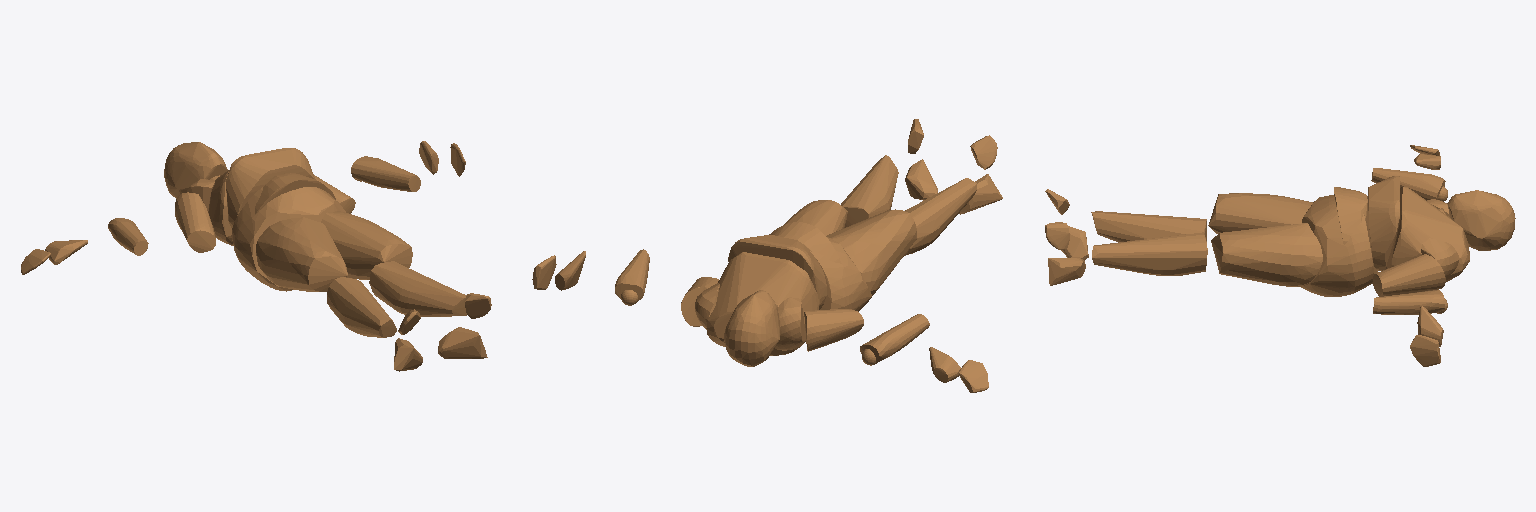
--- Facts derived from the render (not from the file) ---
Views: 3 orthographic renders of the robot side by side, from view 1: azimuth 30°, elevation 25°; view 2: azimuth 150°, elevation 25°; view 3: azimuth 270°, elevation 25°.
Robot: human — 95 links, 94 joints (69 revolute, 25 fixed); root link base; default pose: all joints at 0.
Visible links, largest first — view 1: right_hip_rx, pelvis_dammy, left_hip_rx, left_knee_limb, spine_3_limb, right_knee_limb, head_limb, right_shoulder_limb, left_elbow_limb, left_ankle_limb, spine_2_limb, spine_4_limb (+4 smaller); view 2: spine_4_limb, right_hip_rx, head_limb, right_knee_limb, left_knee_limb, pelvis_dammy, spine_3_limb, right_shoulder_limb, right_elbow_limb, left_hip_rx, right_clavicle_rx, spine_2_limb (+10 smaller); view 3: left_hip_rx, pelvis_dammy, left_knee_limb, spine_4_limb, right_hip_rx, head_limb, right_knee_limb, spine_3_limb, left_shoulder_limb, left_elbow_limb, spine_2_limb, right_elbow_limb (+6 smaller).
Boxes of the visible links, <box> form: right_hip_rx: <box>256,217,347,291</box>; pelvis_dammy: <box>231,187,345,291</box>; left_hip_rx: <box>321,211,412,279</box>; left_knee_limb: <box>369,261,466,316</box>; spine_3_limb: <box>226,148,315,227</box>; right_knee_limb: <box>327,277,396,337</box>; head_limb: <box>164,142,227,198</box>; right_shoulder_limb: <box>175,192,215,252</box>; left_elbow_limb: <box>351,156,420,191</box>; left_ankle_limb: <box>438,327,487,358</box>; spine_2_limb: <box>255,173,335,214</box>; spine_4_limb: <box>208,170,232,245</box>; spine_4_limb: <box>706,252,818,355</box>; right_hip_rx: <box>826,209,916,295</box>; head_limb: <box>724,290,779,366</box>; right_knee_limb: <box>904,178,976,255</box>; left_knee_limb: <box>841,155,898,227</box>; pelvis_dammy: <box>810,237,871,311</box>; spine_3_limb: <box>728,235,826,309</box>; right_shoulder_limb: <box>804,309,863,351</box>; right_elbow_limb: <box>860,314,929,363</box>; left_hip_rx: <box>784,200,847,235</box>; right_clavicle_rx: <box>775,297,805,350</box>; spine_2_limb: <box>769,222,841,263</box>; left_hip_rx: <box>1211,223,1322,286</box>; pelvis_dammy: <box>1301,195,1376,296</box>; left_knee_limb: <box>1092,232,1207,275</box>; spine_4_limb: <box>1391,187,1469,281</box>; right_hip_rx: <box>1208,193,1312,233</box>; head_limb: <box>1447,190,1515,250</box>; right_knee_limb: <box>1091,211,1206,242</box>; spine_3_limb: <box>1368,176,1399,270</box>; left_shoulder_limb: <box>1373,254,1445,296</box>; left_elbow_limb: <box>1373,290,1444,314</box>; spine_2_limb: <box>1334,187,1377,272</box>; right_elbow_limb: <box>1371,168,1445,200</box>.
Bounding box of the posed robot: 1.68 × 1.62 × 0.3818 m (x, y, z).
Meshes: 24 distinct files referenced, 24 mesh visuals loaded (24 OBJ).

URDF robot description (human):
<?xml version="1.0" ?>
<robot name="human">
	<link name="base">
		<inertial>
			<origin rpy="0.00000 -0.00000 0.00000" xyz="0.00000 0.00000 0.00000"/>
			<mass value="0.00010"/>
			<inertia ixx="0.00000" ixy="0" ixz="0" iyy="0.00000" iyz="0" izz="0.00000"/>
		</inertial>
	</link>
	<link name="pelvis">
		<inertial>
			<origin rpy="0.00000 -0.00000 0.00000" xyz="0.00000 0.00000 0.00000"/>
			<mass value="15.00000"/>
			<inertia ixx="0.00000" ixy="0" ixz="0" iyy="0.00000" iyz="0" izz="0.00000"/>
		</inertial>
		<visual>
			<origin rpy="0.00000 -0.00000 0.00000" xyz="0.00000 0.00000 0.00000"/>
			<geometry>
				<sphere radius="0.00000"/>
			</geometry>
			<material name="mat_0_0">
				<color rgba="0.71879 0.53909 0.35939 1.00000" />
			</material>
		</visual>
		<collision>
			<origin rpy="0.00000 -0.00000 0.00000" xyz="0.00000 0.00000 0.00000"/>
			<geometry>
				<sphere radius="0.00000"/>
			</geometry>
		</collision>
	</link>
	<link name="pelvis_dammy">
		<inertial>
			<origin rpy="0.00000 -0.00000 0.00000" xyz="0.00000 0.00000 0.00000"/>
			<mass value="0.00001"/>
			<inertia ixx="0.00000" ixy="0" ixz="0" iyy="0.00000" iyz="0" izz="0.00000"/>
		</inertial>
		<visual>
			<origin rpy="0.00000 -0.00000 0.00000" xyz="0.00000 0.00000 0.00000"/>
			<geometry>
				<mesh filename="./assistive_gym/envs/assets/human/meshes/Pelvis.obj" scale="1.00000 1.00000 1.00000"/>
			</geometry>
			<material name="mat_1_0">
				<color rgba="0.71879 0.53909 0.35939 1.00000" />
			</material>
		</visual>
		<collision>
			<origin rpy="0.00000 -0.00000 0.00000" xyz="0.00000 0.00000 0.00000"/>
			<geometry>
				<mesh filename="./assistive_gym/envs/assets/human/meshes/Pelvis.obj" scale="1.00000 1.00000 1.00000"/>
			</geometry>
		</collision>
	</link>
	<link name="left_hip_rx">
		<inertial>
			<origin rpy="0.00000 -0.00000 0.00000" xyz="0.00000 0.00000 0.00000"/>
			<mass value="0.00000"/>
			<inertia ixx="0.00000" ixy="0" ixz="0" iyy="0.00000" iyz="0" izz="0.00000"/>
		</inertial>
		<visual>
			<origin rpy="0.00000 -0.00000 0.00000" xyz="0.00000 0.00000 0.00000"/>
			<geometry>
				<mesh filename="./assistive_gym/envs/assets/human/meshes/L_Hip.obj" scale="1.00000 1.00000 1.00000"/>
			</geometry>
			<material name="mat_2_0">
				<color rgba="0.71879 0.53909 0.35939 1.00000" />
			</material>
		</visual>
		<collision>
			<origin rpy="0.00000 -0.00000 0.00000" xyz="0.00000 0.00000 0.00000"/>
			<geometry>
				<mesh filename="./assistive_gym/envs/assets/human/meshes/L_Hip.obj" scale="1.00000 1.00000 1.00000"/>
			</geometry>
		</collision>
	</link>
	<link name="left_hip_ry">
		<inertial>
			<origin rpy="0.00000 -0.00000 0.00000" xyz="0.00000 0.00000 0.00000"/>
			<mass value="0.00000"/>
			<inertia ixx="0.00000" ixy="0" ixz="0" iyy="0.00000" iyz="0" izz="0.00000"/>
		</inertial>
		<visual>
			<origin rpy="0.00000 -0.00000 0.00000" xyz="0.00000 0.00000 0.00000"/>
			<geometry>
				<sphere radius="0.00000"/>
			</geometry>
			<material name="mat_3_0">
				<color rgba="0.71879 0.53909 0.35939 1.00000" />
			</material>
		</visual>
		<collision>
			<origin rpy="0.00000 -0.00000 0.00000" xyz="0.00000 0.00000 0.00000"/>
			<geometry>
				<sphere radius="0.00000"/>
			</geometry>
		</collision>
	</link>
	<link name="left_hip_rz">
		<inertial>
			<origin rpy="0.00000 -0.00000 0.00000" xyz="0.00000 0.00000 0.00000"/>
			<mass value="0.00000"/>
			<inertia ixx="0.00000" ixy="0" ixz="0" iyy="0.00000" iyz="0" izz="0.00000"/>
		</inertial>
		<visual>
			<origin rpy="0.00000 -0.00000 0.00000" xyz="0.00000 0.00000 0.00000"/>
			<geometry>
				<sphere radius="0.00000"/>
			</geometry>
			<material name="mat_4_0">
				<color rgba="0.71879 0.53909 0.35939 1.00000" />
			</material>
		</visual>
		<collision>
			<origin rpy="0.00000 -0.00000 0.00000" xyz="0.00000 0.00000 0.00000"/>
			<geometry>
				<sphere radius="0.00000"/>
			</geometry>
		</collision>
	</link>
	<link name="left_knee_limb">
		<inertial>
			<origin rpy="0.00000 -0.00000 0.00000" xyz="0.00000 0.00000 0.00000"/>
			<mass value="2.00000"/>
			<inertia ixx="0.03527" ixy="0" ixz="0" iyy="0.00811" iyz="0" izz="0.03362"/>
		</inertial>
		<visual>
			<origin rpy="0.00000 -0.00000 0.00000" xyz="0.00000 0.00000 0.00000"/>
			<geometry>
				<mesh filename="./assistive_gym/envs/assets/human/meshes/L_Knee.obj" scale="1.00000 1.00000 1.00000"/>
			</geometry>
			<material name="mat_5_0">
				<color rgba="0.71879 0.53909 0.35939 1.00000" />
			</material>
		</visual>
		<collision>
			<origin rpy="0.00000 -0.00000 0.00000" xyz="0.00000 0.00000 0.00000"/>
			<geometry>
				<mesh filename="./assistive_gym/envs/assets/human/meshes/L_Knee.obj" scale="1.00000 1.00000 1.00000"/>
			</geometry>
		</collision>
	</link>
	<link name="left_knee_rx">
		<inertial>
			<origin rpy="0.00000 -0.00000 0.00000" xyz="0.00000 0.00000 0.00000"/>
			<mass value="0.00001"/>
			<inertia ixx="0.00000" ixy="0" ixz="0" iyy="0.00000" iyz="0" izz="0.00000"/>
		</inertial>
		<visual>
			<origin rpy="0.00000 -0.00000 0.00000" xyz="0.00000 0.00000 0.00000"/>
			<geometry>
				<sphere radius="0.00000"/>
			</geometry>
			<material name="mat_6_0">
				<color rgba="0.71879 0.53909 0.35939 1.00000" />
			</material>
		</visual>
		<collision>
			<origin rpy="0.00000 -0.00000 0.00000" xyz="0.00000 0.00000 0.00000"/>
			<geometry>
				<sphere radius="0.00000"/>
			</geometry>
		</collision>
	</link>
	<link name="left_knee_ry">
		<inertial>
			<origin rpy="0.00000 -0.00000 0.00000" xyz="0.00000 0.00000 0.00000"/>
			<mass value="0.00001"/>
			<inertia ixx="0.00000" ixy="0" ixz="0" iyy="0.00000" iyz="0" izz="0.00000"/>
		</inertial>
		<visual>
			<origin rpy="0.00000 -0.00000 0.00000" xyz="0.00000 0.00000 0.00000"/>
			<geometry>
				<sphere radius="0.00000"/>
			</geometry>
			<material name="mat_7_0">
				<color rgba="0.71879 0.53909 0.35939 1.00000" />
			</material>
		</visual>
		<collision>
			<origin rpy="0.00000 -0.00000 0.00000" xyz="0.00000 0.00000 0.00000"/>
			<geometry>
				<sphere radius="0.00000"/>
			</geometry>
		</collision>
	</link>
	<link name="left_knee_rz">
		<inertial>
			<origin rpy="0.00000 -0.00000 0.00000" xyz="0.00000 0.00000 0.00000"/>
			<mass value="0.00001"/>
			<inertia ixx="0.00000" ixy="0" ixz="0" iyy="0.00000" iyz="0" izz="0.00000"/>
		</inertial>
		<visual>
			<origin rpy="0.00000 -0.00000 0.00000" xyz="0.00000 0.00000 0.00000"/>
			<geometry>
				<sphere radius="0.00001"/>
			</geometry>
			<material name="mat_8_0">
				<color rgba="0.71879 0.53909 0.35939 1.00000" />
			</material>
		</visual>
		<collision>
			<origin rpy="0.00000 -0.00000 0.00000" xyz="0.00000 0.00000 0.00000"/>
			<geometry>
				<sphere radius="0.00001"/>
			</geometry>
		</collision>
	</link>
	<link name="left_ankle_limb">
		<inertial>
			<origin rpy="0.00000 -0.00000 0.00000" xyz="0.00000 0.00000 0.00000"/>
			<mass value="2.00000"/>
			<inertia ixx="0.00755" ixy="0" ixz="0" iyy="0.00783" iyz="0" izz="0.00391"/>
		</inertial>
		<visual>
			<origin rpy="0.00000 -0.00000 0.00000" xyz="0.00000 0.00000 0.00000"/>
			<geometry>
				<mesh filename="./assistive_gym/envs/assets/human/meshes/L_Ankle.obj" scale="1.00000 1.00000 1.00000"/>
			</geometry>
			<material name="mat_9_0">
				<color rgba="0.71879 0.53909 0.35939 1.00000" />
			</material>
		</visual>
		<collision>
			<origin rpy="0.00000 -0.00000 0.00000" xyz="0.00000 0.00000 0.00000"/>
			<geometry>
				<mesh filename="./assistive_gym/envs/assets/human/meshes/L_Ankle.obj" scale="1.00000 1.00000 1.00000"/>
			</geometry>
		</collision>
	</link>
	<link name="left_ankle_rx">
		<inertial>
			<origin rpy="0.00000 -0.00000 0.00000" xyz="0.00000 0.00000 0.00000"/>
			<mass value="0.00001"/>
			<inertia ixx="0.00000" ixy="0" ixz="0" iyy="0.00000" iyz="0" izz="0.00000"/>
		</inertial>
		<visual>
			<origin rpy="0.00000 -0.00000 0.00000" xyz="0.00000 0.00000 0.00000"/>
			<geometry>
				<sphere radius="0.00000"/>
			</geometry>
			<material name="mat_10_0">
				<color rgba="0.71879 0.53909 0.35939 1.00000" />
			</material>
		</visual>
		<collision>
			<origin rpy="0.00000 -0.00000 0.00000" xyz="0.00000 0.00000 0.00000"/>
			<geometry>
				<sphere radius="0.00000"/>
			</geometry>
		</collision>
	</link>
	<link name="left_ankle_ry">
		<inertial>
			<origin rpy="0.00000 -0.00000 0.00000" xyz="0.00000 0.00000 0.00000"/>
			<mass value="0.00001"/>
			<inertia ixx="0.00000" ixy="0" ixz="0" iyy="0.00000" iyz="0" izz="0.00000"/>
		</inertial>
		<visual>
			<origin rpy="0.00000 -0.00000 0.00000" xyz="0.00000 0.00000 0.00000"/>
			<geometry>
				<sphere radius="0.00000"/>
			</geometry>
			<material name="mat_11_0">
				<color rgba="0.71879 0.53909 0.35939 1.00000" />
			</material>
		</visual>
		<collision>
			<origin rpy="0.00000 -0.00000 0.00000" xyz="0.00000 0.00000 0.00000"/>
			<geometry>
				<sphere radius="0.00000"/>
			</geometry>
		</collision>
	</link>
	<link name="left_ankle_rz">
		<inertial>
			<origin rpy="0.00000 -0.00000 0.00000" xyz="0.00000 0.00000 0.00000"/>
			<mass value="0.00001"/>
			<inertia ixx="0.00000" ixy="0" ixz="0" iyy="0.00000" iyz="0" izz="0.00000"/>
		</inertial>
		<visual>
			<origin rpy="0.00000 -0.00000 0.00000" xyz="0.00000 0.00000 0.00000"/>
			<geometry>
				<sphere radius="0.00001"/>
			</geometry>
			<material name="mat_12_0">
				<color rgba="0.71879 0.53909 0.35939 1.00000" />
			</material>
		</visual>
		<collision>
			<origin rpy="0.00000 -0.00000 0.00000" xyz="0.00000 0.00000 0.00000"/>
			<geometry>
				<sphere radius="0.00001"/>
			</geometry>
		</collision>
	</link>
	<link name="left_foot_limb">
		<inertial>
			<origin rpy="0.00000 -0.00000 0.00000" xyz="0.00000 0.00000 0.00000"/>
			<mass value="1.00000"/>
			<inertia ixx="0.00123" ixy="0" ixz="0" iyy="0.00201" iyz="0" izz="0.00119"/>
		</inertial>
		<visual>
			<origin rpy="0.00000 -0.00000 0.00000" xyz="0.00000 0.00000 0.00000"/>
			<geometry>
				<mesh filename="./assistive_gym/envs/assets/human/meshes/L_Foot.obj" scale="1.00000 1.00000 1.00000"/>
			</geometry>
			<material name="mat_13_0">
				<color rgba="0.71879 0.53909 0.35939 1.00000" />
			</material>
		</visual>
		<collision>
			<origin rpy="0.00000 -0.00000 0.00000" xyz="0.00000 0.00000 0.00000"/>
			<geometry>
				<mesh filename="./assistive_gym/envs/assets/human/meshes/L_Foot.obj" scale="1.00000 1.00000 1.00000"/>
			</geometry>
		</collision>
	</link>
	<link name="left_foot_rx">
		<inertial>
			<origin rpy="0.00000 -0.00000 0.00000" xyz="0.00000 0.00000 0.00000"/>
			<mass value="0.00001"/>
			<inertia ixx="0.00000" ixy="0" ixz="0" iyy="0.00000" iyz="0" izz="0.00000"/>
		</inertial>
		<visual>
			<origin rpy="0.00000 -0.00000 0.00000" xyz="0.00000 0.00000 0.00000"/>
			<geometry>
				<sphere radius="0.00000"/>
			</geometry>
			<material name="mat_14_0">
				<color rgba="0.71879 0.53909 0.35939 1.00000" />
			</material>
		</visual>
		<collision>
			<origin rpy="0.00000 -0.00000 0.00000" xyz="0.00000 0.00000 0.00000"/>
			<geometry>
				<sphere radius="0.00000"/>
			</geometry>
		</collision>
	</link>
	<link name="left_foot_ry">
		<inertial>
			<origin rpy="0.00000 -0.00000 0.00000" xyz="0.00000 0.00000 0.00000"/>
			<mass value="0.00001"/>
			<inertia ixx="0.00000" ixy="0" ixz="0" iyy="0.00000" iyz="0" izz="0.00000"/>
		</inertial>
		<visual>
			<origin rpy="0.00000 -0.00000 0.00000" xyz="0.00000 0.00000 0.00000"/>
			<geometry>
				<sphere radius="0.00000"/>
			</geometry>
			<material name="mat_15_0">
				<color rgba="0.71879 0.53909 0.35939 1.00000" />
			</material>
		</visual>
		<collision>
			<origin rpy="0.00000 -0.00000 0.00000" xyz="0.00000 0.00000 0.00000"/>
			<geometry>
				<sphere radius="0.00000"/>
			</geometry>
		</collision>
	</link>
	<link name="left_foot_rz">
		<inertial>
			<origin rpy="0.00000 -0.00000 0.00000" xyz="0.00000 0.00000 0.00000"/>
			<mass value="0.00001"/>
			<inertia ixx="0.00000" ixy="0" ixz="0" iyy="0.00000" iyz="0" izz="0.00000"/>
		</inertial>
		<visual>
			<origin rpy="0.00000 -0.00000 0.00000" xyz="0.00000 0.00000 0.00000"/>
			<geometry>
				<sphere radius="0.00001"/>
			</geometry>
			<material name="mat_16_0">
				<color rgba="0.71879 0.53909 0.35939 1.00000" />
			</material>
		</visual>
		<collision>
			<origin rpy="0.00000 -0.00000 0.00000" xyz="0.00000 0.00000 0.00000"/>
			<geometry>
				<sphere radius="0.00001"/>
			</geometry>
		</collision>
	</link>
	<link name="left_toe">
		<inertial>
			<origin rpy="0.00000 -0.00000 0.00000" xyz="0.00000 0.00000 0.00000"/>
			<mass value="0.00001"/>
			<inertia ixx="0.00000" ixy="0" ixz="0" iyy="0.00000" iyz="0" izz="0.00000"/>
		</inertial>
		<collision>
			<origin rpy="0.00000 -0.00000 0.00000" xyz="0.00000 0.00000 0.00000"/>
			<geometry>
				<capsule length="0.04800" radius="0.00500"/>
			</geometry>
		</collision>
	</link>
	<link name="left_heel">
		<inertial>
			<origin rpy="0.00000 -0.00000 0.00000" xyz="0.00000 0.00000 0.00000"/>
			<mass value="0.00001"/>
			<inertia ixx="0.00000" ixy="0" ixz="0" iyy="0.00000" iyz="0" izz="0.00000"/>
		</inertial>
		<collision>
			<origin rpy="0.00000 -0.00000 0.00000" xyz="0.00000 0.00000 0.00000"/>
			<geometry>
				<capsule length="0.04800" radius="0.00500"/>
			</geometry>
		</collision>
	</link>
	<link name="right_hip_rx">
		<inertial>
			<origin rpy="0.00000 -0.00000 0.00000" xyz="0.00000 0.00000 0.00000"/>
			<mass value="0.00001"/>
			<inertia ixx="0.00000" ixy="0" ixz="0" iyy="0.00000" iyz="0" izz="0.00000"/>
		</inertial>
		<visual>
			<origin rpy="0.00000 -0.00000 0.00000" xyz="0.00000 0.00000 0.00000"/>
			<geometry>
				<mesh filename="./assistive_gym/envs/assets/human/meshes/R_Hip.obj" scale="1.00000 1.00000 1.00000"/>
			</geometry>
			<material name="mat_19_0">
				<color rgba="0.71879 0.53909 0.35939 1.00000" />
			</material>
		</visual>
		<collision>
			<origin rpy="0.00000 -0.00000 0.00000" xyz="0.00000 0.00000 0.00000"/>
			<geometry>
				<mesh filename="./assistive_gym/envs/assets/human/meshes/R_Hip.obj" scale="1.00000 1.00000 1.00000"/>
			</geometry>
		</collision>
	</link>
	<link name="right_hip_ry">
		<inertial>
			<origin rpy="0.00000 -0.00000 0.00000" xyz="0.00000 0.00000 0.00000"/>
			<mass value="0.00001"/>
			<inertia ixx="0.00000" ixy="0" ixz="0" iyy="0.00000" iyz="0" izz="0.00000"/>
		</inertial>
		<visual>
			<origin rpy="0.00000 -0.00000 0.00000" xyz="0.00000 0.00000 0.00000"/>
			<geometry>
				<sphere radius="0.00000"/>
			</geometry>
			<material name="mat_20_0">
				<color rgba="0.71879 0.53909 0.35939 1.00000" />
			</material>
		</visual>
		<collision>
			<origin rpy="0.00000 -0.00000 0.00000" xyz="0.00000 0.00000 0.00000"/>
			<geometry>
				<sphere radius="0.00000"/>
			</geometry>
		</collision>
	</link>
	<link name="right_hip_rz">
		<inertial>
			<origin rpy="0.00000 -0.00000 0.00000" xyz="0.00000 0.00000 0.00000"/>
			<mass value="0.00001"/>
			<inertia ixx="0.00000" ixy="0" ixz="0" iyy="0.00000" iyz="0" izz="0.00000"/>
		</inertial>
		<visual>
			<origin rpy="0.00000 -0.00000 0.00000" xyz="0.00000 0.00000 0.00000"/>
			<geometry>
				<sphere radius="0.00000"/>
			</geometry>
			<material name="mat_21_0">
				<color rgba="0.71879 0.53909 0.35939 1.00000" />
			</material>
		</visual>
		<collision>
			<origin rpy="0.00000 -0.00000 0.00000" xyz="0.00000 0.00000 0.00000"/>
			<geometry>
				<sphere radius="0.00000"/>
			</geometry>
		</collision>
	</link>
	<link name="right_knee_limb">
		<inertial>
			<origin rpy="0.00000 -0.00000 0.00000" xyz="0.00000 0.00000 0.00000"/>
			<mass value="2.00000"/>
			<inertia ixx="0.03507" ixy="0" ixz="0" iyy="0.00796" iyz="0" izz="0.03368"/>
		</inertial>
		<visual>
			<origin rpy="0.00000 -0.00000 0.00000" xyz="0.00000 0.00000 0.00000"/>
			<geometry>
				<mesh filename="./assistive_gym/envs/assets/human/meshes/R_Knee.obj" scale="1.00000 1.00000 1.00000"/>
			</geometry>
			<material name="mat_22_0">
				<color rgba="0.71879 0.53909 0.35939 1.00000" />
			</material>
		</visual>
		<collision>
			<origin rpy="0.00000 -0.00000 0.00000" xyz="0.00000 0.00000 0.00000"/>
			<geometry>
				<mesh filename="./assistive_gym/envs/assets/human/meshes/R_Knee.obj" scale="1.00000 1.00000 1.00000"/>
			</geometry>
		</collision>
	</link>
	<link name="right_knee_rx">
		<inertial>
			<origin rpy="0.00000 -0.00000 0.00000" xyz="0.00000 0.00000 0.00000"/>
			<mass value="0.00001"/>
			<inertia ixx="0.00000" ixy="0" ixz="0" iyy="0.00000" iyz="0" izz="0.00000"/>
		</inertial>
		<visual>
			<origin rpy="0.00000 -0.00000 0.00000" xyz="0.00000 0.00000 0.00000"/>
			<geometry>
				<sphere radius="0.00000"/>
			</geometry>
			<material name="mat_23_0">
				<color rgba="0.71879 0.53909 0.35939 1.00000" />
			</material>
		</visual>
		<collision>
			<origin rpy="0.00000 -0.00000 0.00000" xyz="0.00000 0.00000 0.00000"/>
			<geometry>
				<sphere radius="0.00000"/>
			</geometry>
		</collision>
	</link>
	<link name="right_knee_ry">
		<inertial>
			<origin rpy="0.00000 -0.00000 0.00000" xyz="0.00000 0.00000 0.00000"/>
			<mass value="0.00001"/>
			<inertia ixx="0.00000" ixy="0" ixz="0" iyy="0.00000" iyz="0" izz="0.00000"/>
		</inertial>
		<visual>
			<origin rpy="0.00000 -0.00000 0.00000" xyz="0.00000 0.00000 0.00000"/>
			<geometry>
				<sphere radius="0.00000"/>
			</geometry>
			<material name="mat_24_0">
				<color rgba="0.71879 0.53909 0.35939 1.00000" />
			</material>
		</visual>
		<collision>
			<origin rpy="0.00000 -0.00000 0.00000" xyz="0.00000 0.00000 0.00000"/>
			<geometry>
				<sphere radius="0.00000"/>
			</geometry>
		</collision>
	</link>
	<link name="right_knee_rz">
		<inertial>
			<origin rpy="0.00000 -0.00000 0.00000" xyz="0.00000 0.00000 0.00000"/>
			<mass value="0.00001"/>
			<inertia ixx="0.00000" ixy="0" ixz="0" iyy="0.00000" iyz="0" izz="0.00000"/>
		</inertial>
		<visual>
			<origin rpy="0.00000 -0.00000 0.00000" xyz="0.00000 0.00000 0.00000"/>
			<geometry>
				<sphere radius="0.00001"/>
			</geometry>
			<material name="mat_25_0">
				<color rgba="0.71879 0.53909 0.35939 1.00000" />
			</material>
		</visual>
		<collision>
			<origin rpy="0.00000 -0.00000 0.00000" xyz="0.00000 0.00000 0.00000"/>
			<geometry>
				<sphere radius="0.00001"/>
			</geometry>
		</collision>
	</link>
	<link name="right_ankle_limb">
		<inertial>
			<origin rpy="0.00000 -0.00000 0.00000" xyz="0.00000 0.00000 0.00000"/>
			<mass value="2.00000"/>
			<inertia ixx="0.00796" ixy="0" ixz="0" iyy="0.00802" iyz="0" izz="0.00399"/>
		</inertial>
		<visual>
			<origin rpy="0.00000 -0.00000 0.00000" xyz="0.00000 0.00000 0.00000"/>
			<geometry>
				<mesh filename="./assistive_gym/envs/assets/human/meshes/R_Ankle.obj" scale="1.00000 1.00000 1.00000"/>
			</geometry>
			<material name="mat_26_0">
				<color rgba="0.71879 0.53909 0.35939 1.00000" />
			</material>
		</visual>
		<collision>
			<origin rpy="0.00000 -0.00000 0.00000" xyz="0.00000 0.00000 0.00000"/>
			<geometry>
				<mesh filename="./assistive_gym/envs/assets/human/meshes/R_Ankle.obj" scale="1.00000 1.00000 1.00000"/>
			</geometry>
		</collision>
	</link>
	<link name="right_ankle_rx">
		<inertial>
			<origin rpy="0.00000 -0.00000 0.00000" xyz="0.00000 0.00000 0.00000"/>
			<mass value="0.00001"/>
			<inertia ixx="0.00000" ixy="0" ixz="0" iyy="0.00000" iyz="0" izz="0.00000"/>
		</inertial>
		<visual>
			<origin rpy="0.00000 -0.00000 0.00000" xyz="0.00000 0.00000 0.00000"/>
			<geometry>
				<sphere radius="0.00000"/>
			</geometry>
			<material name="mat_27_0">
				<color rgba="0.71879 0.53909 0.35939 1.00000" />
			</material>
		</visual>
		<collision>
			<origin rpy="0.00000 -0.00000 0.00000" xyz="0.00000 0.00000 0.00000"/>
			<geometry>
				<sphere radius="0.00000"/>
			</geometry>
		</collision>
	</link>
	<link name="right_ankle_ry">
		<inertial>
			<origin rpy="0.00000 -0.00000 0.00000" xyz="0.00000 0.00000 0.00000"/>
			<mass value="0.00001"/>
			<inertia ixx="0.00000" ixy="0" ixz="0" iyy="0.00000" iyz="0" izz="0.00000"/>
		</inertial>
		<visual>
			<origin rpy="0.00000 -0.00000 0.00000" xyz="0.00000 0.00000 0.00000"/>
			<geometry>
				<sphere radius="0.00000"/>
			</geometry>
			<material name="mat_28_0">
				<color rgba="0.71879 0.53909 0.35939 1.00000" />
			</material>
		</visual>
		<collision>
			<origin rpy="0.00000 -0.00000 0.00000" xyz="0.00000 0.00000 0.00000"/>
			<geometry>
				<sphere radius="0.00000"/>
			</geometry>
		</collision>
	</link>
	<link name="right_ankle_rz">
		<inertial>
			<origin rpy="0.00000 -0.00000 0.00000" xyz="0.00000 0.00000 0.00000"/>
			<mass value="0.00001"/>
			<inertia ixx="0.00000" ixy="0" ixz="0" iyy="0.00000" iyz="0" izz="0.00000"/>
		</inertial>
		<visual>
			<origin rpy="0.00000 -0.00000 0.00000" xyz="0.00000 0.00000 0.00000"/>
			<geometry>
				<sphere radius="0.00001"/>
			</geometry>
			<material name="mat_29_0">
				<color rgba="0.71879 0.53909 0.35939 1.00000" />
			</material>
		</visual>
		<collision>
			<origin rpy="0.00000 -0.00000 0.00000" xyz="0.00000 0.00000 0.00000"/>
			<geometry>
				<sphere radius="0.00001"/>
			</geometry>
		</collision>
	</link>
	<link name="right_foot_limb">
		<inertial>
			<origin rpy="0.00000 -0.00000 0.00000" xyz="0.00000 0.00000 0.00000"/>
			<mass value="1.00000"/>
			<inertia ixx="0.00127" ixy="0" ixz="0" iyy="0.00204" iyz="0" izz="0.00122"/>
		</inertial>
		<visual>
			<origin rpy="0.00000 -0.00000 0.00000" xyz="0.00000 0.00000 0.00000"/>
			<geometry>
				<mesh filename="./assistive_gym/envs/assets/human/meshes/R_Foot.obj" scale="1.00000 1.00000 1.00000"/>
			</geometry>
			<material name="mat_30_0">
				<color rgba="0.71879 0.53909 0.35939 1.00000" />
			</material>
		</visual>
		<collision>
			<origin rpy="0.00000 -0.00000 0.00000" xyz="0.00000 0.00000 0.00000"/>
			<geometry>
				<mesh filename="./assistive_gym/envs/assets/human/meshes/R_Foot.obj" scale="1.00000 1.00000 1.00000"/>
			</geometry>
		</collision>
	</link>
	<link name="right_foot_rx">
		<inertial>
			<origin rpy="0.00000 -0.00000 0.00000" xyz="0.00000 0.00000 0.00000"/>
			<mass value="0.00001"/>
			<inertia ixx="0.00000" ixy="0" ixz="0" iyy="0.00000" iyz="0" izz="0.00000"/>
		</inertial>
		<visual>
			<origin rpy="0.00000 -0.00000 0.00000" xyz="0.00000 0.00000 0.00000"/>
			<geometry>
				<sphere radius="0.00000"/>
			</geometry>
			<material name="mat_31_0">
				<color rgba="0.71879 0.53909 0.35939 1.00000" />
			</material>
		</visual>
		<collision>
			<origin rpy="0.00000 -0.00000 0.00000" xyz="0.00000 0.00000 0.00000"/>
			<geometry>
				<sphere radius="0.00000"/>
			</geometry>
		</collision>
	</link>
	<link name="right_foot_ry">
		<inertial>
			<origin rpy="0.00000 -0.00000 0.00000" xyz="0.00000 0.00000 0.00000"/>
			<mass value="0.00001"/>
			<inertia ixx="0.00000" ixy="0" ixz="0" iyy="0.00000" iyz="0" izz="0.00000"/>
		</inertial>
		<visual>
			<origin rpy="0.00000 -0.00000 0.00000" xyz="0.00000 0.00000 0.00000"/>
			<geometry>
				<sphere radius="0.00000"/>
			</geometry>
			<material name="mat_32_0">
				<color rgba="0.71879 0.53909 0.35939 1.00000" />
			</material>
		</visual>
		<collision>
			<origin rpy="0.00000 -0.00000 0.00000" xyz="0.00000 0.00000 0.00000"/>
			<geometry>
				<sphere radius="0.00000"/>
			</geometry>
		</collision>
	</link>
	<link name="right_foot_rz">
		<inertial>
			<origin rpy="0.00000 -0.00000 0.00000" xyz="0.00000 0.00000 0.00000"/>
			<mass value="0.00001"/>
			<inertia ixx="0.00000" ixy="0" ixz="0" iyy="0.00000" iyz="0" izz="0.00000"/>
		</inertial>
		<visual>
			<origin rpy="0.00000 -0.00000 0.00000" xyz="0.00000 0.00000 0.00000"/>
			<geometry>
				<sphere radius="0.00001"/>
			</geometry>
			<material name="mat_33_0">
				<color rgba="0.71879 0.53909 0.35939 1.00000" />
			</material>
		</visual>
		<collision>
			<origin rpy="0.00000 -0.00000 0.00000" xyz="0.00000 0.00000 0.00000"/>
			<geometry>
				<sphere radius="0.00001"/>
			</geometry>
		</collision>
	</link>
	<link name="right_toe">
		<inertial>
			<origin rpy="0.00000 -0.00000 0.00000" xyz="0.00000 0.00000 0.00000"/>
			<mass value="0.00001"/>
			<inertia ixx="0.00000" ixy="0" ixz="0" iyy="0.00000" iyz="0" izz="0.00000"/>
		</inertial>
		<collision>
			<origin rpy="0.00000 -0.00000 0.00000" xyz="0.00000 0.00000 0.00000"/>
			<geometry>
				<capsule length="0.04800" radius="0.00500"/>
			</geometry>
		</collision>
	</link>
	<link name="right_heel">
		<inertial>
			<origin rpy="0.00000 -0.00000 0.00000" xyz="0.00000 0.00000 0.00000"/>
			<mass value="0.00001"/>
			<inertia ixx="0.00000" ixy="0" ixz="0" iyy="0.00000" iyz="0" izz="0.00000"/>
		</inertial>
		<collision>
			<origin rpy="0.00000 -0.00000 0.00000" xyz="0.00000 0.00000 0.00000"/>
			<geometry>
				<capsule length="0.04800" radius="0.00500"/>
			</geometry>
		</collision>
	</link>
	<link name="spine_2_limb">
		<inertial>
			<origin rpy="0.00000 -0.00000 0.00000" xyz="0.00000 0.00000 0.00000"/>
			<mass value="2.00000"/>
			<inertia ixx="0.01851" ixy="0" ixz="0" iyy="0.03305" iyz="0" izz="0.02363"/>
		</inertial>
		<visual>
			<origin rpy="0.00000 -0.00000 0.00000" xyz="0.00000 0.00000 0.00000"/>
			<geometry>
				<mesh filename="./assistive_gym/envs/assets/human/meshes/Spine1.obj" scale="1.00000 1.00000 1.00000"/>
			</geometry>
			<material name="mat_36_0">
				<color rgba="0.71879 0.53909 0.35939 1.00000" />
			</material>
		</visual>
		<collision>
			<origin rpy="0.00000 -0.00000 0.00000" xyz="0.00000 0.00000 0.00000"/>
			<geometry>
				<mesh filename="./assistive_gym/envs/assets/human/meshes/Spine1.obj" scale="1.00000 1.00000 1.00000"/>
			</geometry>
		</collision>
	</link>
	<link name="spine_2_rx">
		<inertial>
			<origin rpy="0.00000 -0.00000 0.00000" xyz="0.00000 0.00000 0.00000"/>
			<mass value="0.00001"/>
			<inertia ixx="0.00000" ixy="0" ixz="0" iyy="0.00000" iyz="0" izz="0.00000"/>
		</inertial>
		<visual>
			<origin rpy="0.00000 -0.00000 0.00000" xyz="0.00000 0.00000 0.00000"/>
			<geometry>
				<sphere radius="0.00000"/>
			</geometry>
			<material name="mat_37_0">
				<color rgba="0.71879 0.53909 0.35939 1.00000" />
			</material>
		</visual>
		<collision>
			<origin rpy="0.00000 -0.00000 0.00000" xyz="0.00000 0.00000 0.00000"/>
			<geometry>
				<sphere radius="0.00000"/>
			</geometry>
		</collision>
	</link>
	<link name="spine_2_ry">
		<inertial>
			<origin rpy="0.00000 -0.00000 0.00000" xyz="0.00000 0.00000 0.00000"/>
			<mass value="0.00001"/>
			<inertia ixx="0.00000" ixy="0" ixz="0" iyy="0.00000" iyz="0" izz="0.00000"/>
		</inertial>
		<visual>
			<origin rpy="0.00000 -0.00000 0.00000" xyz="0.00000 0.00000 0.00000"/>
			<geometry>
				<sphere radius="0.00000"/>
			</geometry>
			<material name="mat_38_0">
				<color rgba="0.71879 0.53909 0.35939 1.00000" />
			</material>
		</visual>
		<collision>
			<origin rpy="0.00000 -0.00000 0.00000" xyz="0.00000 0.00000 0.00000"/>
			<geometry>
				<sphere radius="0.00000"/>
			</geometry>
		</collision>
	</link>
	<link name="spine_2_rz">
		<inertial>
			<origin rpy="0.00000 -0.00000 0.00000" xyz="0.00000 0.00000 0.00000"/>
			<mass value="0.00001"/>
			<inertia ixx="0.00000" ixy="0" ixz="0" iyy="0.00000" iyz="0" izz="0.00000"/>
		</inertial>
		<visual>
			<origin rpy="0.00000 -0.00000 0.00000" xyz="0.00000 0.00000 0.00000"/>
			<geometry>
				<sphere radius="0.00001"/>
			</geometry>
			<material name="mat_39_0">
				<color rgba="0.71879 0.53909 0.35939 1.00000" />
			</material>
		</visual>
		<collision>
			<origin rpy="0.00000 -0.00000 0.00000" xyz="0.00000 0.00000 0.00000"/>
			<geometry>
				<sphere radius="0.00001"/>
			</geometry>
		</collision>
	</link>
	<link name="spine_3_limb">
		<inertial>
			<origin rpy="0.00000 -0.00000 0.00000" xyz="0.00000 0.00000 0.00000"/>
			<mass value="2.00000"/>
			<inertia ixx="0.01610" ixy="0" ixz="0" iyy="0.03354" iyz="0" izz="0.02347"/>
		</inertial>
		<visual>
			<origin rpy="0.00000 -0.00000 0.00000" xyz="0.00000 0.00000 0.00000"/>
			<geometry>
				<mesh filename="./assistive_gym/envs/assets/human/meshes/Spine2.obj" scale="1.00000 1.00000 1.00000"/>
			</geometry>
			<material name="mat_40_0">
				<color rgba="0.71879 0.53909 0.35939 1.00000" />
			</material>
		</visual>
		<collision>
			<origin rpy="0.00000 -0.00000 0.00000" xyz="0.00000 0.00000 0.00000"/>
			<geometry>
				<mesh filename="./assistive_gym/envs/assets/human/meshes/Spine2.obj" scale="1.00000 1.00000 1.00000"/>
			</geometry>
		</collision>
	</link>
	<link name="spine_3_rx">
		<inertial>
			<origin rpy="0.00000 -0.00000 0.00000" xyz="0.00000 0.00000 0.00000"/>
			<mass value="0.00001"/>
			<inertia ixx="0.00000" ixy="0" ixz="0" iyy="0.00000" iyz="0" izz="0.00000"/>
		</inertial>
		<visual>
			<origin rpy="0.00000 -0.00000 0.00000" xyz="0.00000 0.00000 0.00000"/>
			<geometry>
				<sphere radius="0.00000"/>
			</geometry>
			<material name="mat_41_0">
				<color rgba="0.71879 0.53909 0.35939 1.00000" />
			</material>
		</visual>
		<collision>
			<origin rpy="0.00000 -0.00000 0.00000" xyz="0.00000 0.00000 0.00000"/>
			<geometry>
				<sphere radius="0.00000"/>
			</geometry>
		</collision>
	</link>
	<link name="spine_3_ry">
		<inertial>
			<origin rpy="0.00000 -0.00000 0.00000" xyz="0.00000 0.00000 0.00000"/>
			<mass value="0.00001"/>
			<inertia ixx="0.00000" ixy="0" ixz="0" iyy="0.00000" iyz="0" izz="0.00000"/>
		</inertial>
		<visual>
			<origin rpy="0.00000 -0.00000 0.00000" xyz="0.00000 0.00000 0.00000"/>
			<geometry>
				<sphere radius="0.00000"/>
			</geometry>
			<material name="mat_42_0">
				<color rgba="0.71879 0.53909 0.35939 1.00000" />
			</material>
		</visual>
		<collision>
			<origin rpy="0.00000 -0.00000 0.00000" xyz="0.00000 0.00000 0.00000"/>
			<geometry>
				<sphere radius="0.00000"/>
			</geometry>
		</collision>
	</link>
	<link name="spine_3_rz">
		<inertial>
			<origin rpy="0.00000 -0.00000 0.00000" xyz="0.00000 0.00000 0.00000"/>
			<mass value="0.00001"/>
			<inertia ixx="0.00000" ixy="0" ixz="0" iyy="0.00000" iyz="0" izz="0.00000"/>
		</inertial>
		<visual>
			<origin rpy="0.00000 -0.00000 0.00000" xyz="0.00000 0.00000 0.00000"/>
			<geometry>
				<sphere radius="0.00001"/>
			</geometry>
			<material name="mat_43_0">
				<color rgba="0.71879 0.53909 0.35939 1.00000" />
			</material>
		</visual>
		<collision>
			<origin rpy="0.00000 -0.00000 0.00000" xyz="0.00000 0.00000 0.00000"/>
			<geometry>
				<sphere radius="0.00001"/>
			</geometry>
		</collision>
	</link>
	<link name="spine_4_limb">
		<inertial>
			<origin rpy="0.00000 -0.00000 0.00000" xyz="0.00000 0.00000 0.00000"/>
			<mass value="2.00000"/>
			<inertia ixx="0.02497" ixy="0" ixz="0" iyy="0.04533" iyz="0" izz="0.04626"/>
		</inertial>
		<visual>
			<origin rpy="0.00000 -0.00000 0.00000" xyz="0.00000 0.00000 0.00000"/>
			<geometry>
				<mesh filename="./assistive_gym/envs/assets/human/meshes/Spine3.obj" scale="1.00000 1.00000 1.00000"/>
			</geometry>
			<material name="mat_44_0">
				<color rgba="0.71879 0.53909 0.35939 1.00000" />
			</material>
		</visual>
		<collision>
			<origin rpy="0.00000 -0.00000 0.00000" xyz="0.00000 0.00000 0.00000"/>
			<geometry>
				<mesh filename="./assistive_gym/envs/assets/human/meshes/Spine3.obj" scale="1.00000 1.00000 1.00000"/>
			</geometry>
		</collision>
	</link>
	<link name="spine_4_rx">
		<inertial>
			<origin rpy="0.00000 -0.00000 0.00000" xyz="0.00000 0.00000 0.00000"/>
			<mass value="0.00001"/>
			<inertia ixx="0.00000" ixy="0" ixz="0" iyy="0.00000" iyz="0" izz="0.00000"/>
		</inertial>
		<visual>
			<origin rpy="0.00000 -0.00000 0.00000" xyz="0.00000 0.00000 0.00000"/>
			<geometry>
				<sphere radius="0.00000"/>
			</geometry>
			<material name="mat_45_0">
				<color rgba="0.71879 0.53909 0.35939 1.00000" />
			</material>
		</visual>
		<collision>
			<origin rpy="0.00000 -0.00000 0.00000" xyz="0.00000 0.00000 0.00000"/>
			<geometry>
				<sphere radius="0.00000"/>
			</geometry>
		</collision>
	</link>
	<link name="spine_4_ry">
		<inertial>
			<origin rpy="0.00000 -0.00000 0.00000" xyz="0.00000 0.00000 0.00000"/>
			<mass value="0.00001"/>
			<inertia ixx="0.00000" ixy="0" ixz="0" iyy="0.00000" iyz="0" izz="0.00000"/>
		</inertial>
		<visual>
			<origin rpy="0.00000 -0.00000 0.00000" xyz="0.00000 0.00000 0.00000"/>
			<geometry>
				<sphere radius="0.00000"/>
			</geometry>
			<material name="mat_46_0">
				<color rgba="0.71879 0.53909 0.35939 1.00000" />
			</material>
		</visual>
		<collision>
			<origin rpy="0.00000 -0.00000 0.00000" xyz="0.00000 0.00000 0.00000"/>
			<geometry>
				<sphere radius="0.00000"/>
			</geometry>
		</collision>
	</link>
	<link name="spine_4_rz">
		<inertial>
			<origin rpy="0.00000 -0.00000 0.00000" xyz="0.00000 0.00000 0.00000"/>
			<mass value="0.00001"/>
			<inertia ixx="0.00000" ixy="0" ixz="0" iyy="0.00000" iyz="0" izz="0.00000"/>
		</inertial>
		<visual>
			<origin rpy="0.00000 -0.00000 0.00000" xyz="0.00000 0.00000 0.00000"/>
			<geometry>
				<sphere radius="0.00001"/>
			</geometry>
			<material name="mat_47_0">
				<color rgba="0.71879 0.53909 0.35939 1.00000" />
			</material>
		</visual>
		<collision>
			<origin rpy="0.00000 -0.00000 0.00000" xyz="0.00000 0.00000 0.00000"/>
			<geometry>
				<sphere radius="0.00001"/>
			</geometry>
		</collision>
	</link>
	<link name="neck_limb">
		<inertial>
			<origin rpy="0.00000 -0.00000 0.00000" xyz="0.00000 0.00000 0.00000"/>
			<mass value="1.00000"/>
			<inertia ixx="0.00268" ixy="0" ixz="0" iyy="0.00372" iyz="0" izz="0.00237"/>
		</inertial>
		<visual>
			<origin rpy="0.00000 -0.00000 0.00000" xyz="0.00000 0.00000 0.00000"/>
			<geometry>
				<mesh filename="./assistive_gym/envs/assets/human/meshes/Neck.obj" scale="1.00000 1.00000 1.00000"/>
			</geometry>
			<material name="mat_48_0">
				<color rgba="0.71879 0.53909 0.35939 1.00000" />
			</material>
		</visual>
		<collision>
			<origin rpy="0.00000 -0.00000 0.00000" xyz="0.00000 0.00000 0.00000"/>
			<geometry>
				<mesh filename="./assistive_gym/envs/assets/human/meshes/Neck.obj" scale="1.00000 1.00000 1.00000"/>
			</geometry>
		</collision>
	</link>
	<link name="neck_rx">
		<inertial>
			<origin rpy="0.00000 -0.00000 0.00000" xyz="0.00000 0.00000 0.00000"/>
			<mass value="0.00001"/>
			<inertia ixx="0.00000" ixy="0" ixz="0" iyy="0.00000" iyz="0" izz="0.00000"/>
		</inertial>
		<visual>
			<origin rpy="0.00000 -0.00000 0.00000" xyz="0.00000 0.00000 0.00000"/>
			<geometry>
				<sphere radius="0.00001"/>
			</geometry>
			<material name="mat_49_0">
				<color rgba="0.71879 0.53909 0.35939 1.00000" />
			</material>
		</visual>
		<collision>
			<origin rpy="0.00000 -0.00000 0.00000" xyz="0.00000 0.00000 0.00000"/>
			<geometry>
				<sphere radius="0.00001"/>
			</geometry>
		</collision>
	</link>
	<link name="neck_ry">
		<inertial>
			<origin rpy="0.00000 -0.00000 0.00000" xyz="0.00000 0.00000 0.00000"/>
			<mass value="0.00001"/>
			<inertia ixx="0.00000" ixy="0" ixz="0" iyy="0.00000" iyz="0" izz="0.00000"/>
		</inertial>
		<visual>
			<origin rpy="0.00000 -0.00000 0.00000" xyz="0.00000 0.00000 0.00000"/>
			<geometry>
				<sphere radius="0.00000"/>
			</geometry>
			<material name="mat_50_0">
				<color rgba="0.71879 0.53909 0.35939 1.00000" />
			</material>
		</visual>
		<collision>
			<origin rpy="0.00000 -0.00000 0.00000" xyz="0.00000 0.00000 0.00000"/>
			<geometry>
				<sphere radius="0.00000"/>
			</geometry>
		</collision>
	</link>
	<link name="neck_rz">
		<inertial>
			<origin rpy="0.00000 -0.00000 0.00000" xyz="0.00000 0.00000 0.00000"/>
			<mass value="0.00001"/>
			<inertia ixx="0.00000" ixy="0" ixz="0" iyy="0.00000" iyz="0" izz="0.00000"/>
		</inertial>
		<visual>
			<origin rpy="0.00000 -0.00000 0.00000" xyz="0.00000 0.00000 0.00000"/>
			<geometry>
				<sphere radius="0.00000"/>
			</geometry>
			<material name="mat_51_0">
				<color rgba="0.71879 0.53909 0.35939 1.00000" />
			</material>
		</visual>
		<collision>
			<origin rpy="0.00000 -0.00000 0.00000" xyz="0.00000 0.00000 0.00000"/>
			<geometry>
				<sphere radius="0.00000"/>
			</geometry>
		</collision>
	</link>
	<link name="head_limb">
		<inertial>
			<origin rpy="0.00000 -0.00000 0.00000" xyz="0.00000 0.00000 0.00000"/>
			<mass value="1.00000"/>
			<inertia ixx="0.01002" ixy="0" ixz="0" iyy="0.00826" iyz="0" izz="0.00828"/>
		</inertial>
		<visual>
			<origin rpy="0.00000 -0.00000 0.00000" xyz="0.00000 0.00000 0.00000"/>
			<geometry>
				<mesh filename="./assistive_gym/envs/assets/human/meshes/Head.obj" scale="1.00000 1.00000 1.00000"/>
			</geometry>
			<material name="mat_52_0">
				<color rgba="0.71879 0.53909 0.35939 1.00000" />
			</material>
		</visual>
		<collision>
			<origin rpy="0.00000 -0.00000 0.00000" xyz="0.00000 0.00000 0.00000"/>
			<geometry>
				<mesh filename="./assistive_gym/envs/assets/human/meshes/Head.obj" scale="1.00000 1.00000 1.00000"/>
			</geometry>
		</collision>
	</link>
	<link name="head_rx">
		<inertial>
			<origin rpy="0.00000 -0.00000 0.00000" xyz="0.00000 0.00000 0.00000"/>
			<mass value="0.00001"/>
			<inertia ixx="0.00000" ixy="0" ixz="0" iyy="0.00000" iyz="0" izz="0.00000"/>
		</inertial>
		<visual>
			<origin rpy="0.00000 -0.00000 0.00000" xyz="0.00000 0.00000 0.00000"/>
			<geometry>
				<sphere radius="0.00000"/>
			</geometry>
			<material name="mat_53_0">
				<color rgba="0.71879 0.53909 0.35939 1.00000" />
			</material>
		</visual>
		<collision>
			<origin rpy="0.00000 -0.00000 0.00000" xyz="0.00000 0.00000 0.00000"/>
			<geometry>
				<sphere radius="0.00000"/>
			</geometry>
		</collision>
	</link>
	<link name="head_ry">
		<inertial>
			<origin rpy="0.00000 -0.00000 0.00000" xyz="0.00000 0.00000 0.00000"/>
			<mass value="0.00001"/>
			<inertia ixx="0.00000" ixy="0" ixz="0" iyy="0.00000" iyz="0" izz="0.00000"/>
		</inertial>
		<visual>
			<origin rpy="0.00000 -0.00000 0.00000" xyz="0.00000 0.00000 0.00000"/>
			<geometry>
				<sphere radius="0.00000"/>
			</geometry>
			<material name="mat_54_0">
				<color rgba="0.71879 0.53909 0.35939 1.00000" />
			</material>
		</visual>
		<collision>
			<origin rpy="0.00000 -0.00000 0.00000" xyz="0.00000 0.00000 0.00000"/>
			<geometry>
				<sphere radius="0.00000"/>
			</geometry>
		</collision>
	</link>
	<link name="head_rz">
		<inertial>
			<origin rpy="0.00000 -0.00000 0.00000" xyz="0.00000 0.00000 0.00000"/>
			<mass value="0.00001"/>
			<inertia ixx="0.00000" ixy="0" ixz="0" iyy="0.00000" iyz="0" izz="0.00000"/>
		</inertial>
		<visual>
			<origin rpy="0.00000 -0.00000 0.00000" xyz="0.00000 0.00000 0.00000"/>
			<geometry>
				<sphere radius="0.00001"/>
			</geometry>
			<material name="mat_55_0">
				<color rgba="0.71879 0.53909 0.35939 1.00000" />
			</material>
		</visual>
		<collision>
			<origin rpy="0.00000 -0.00000 0.00000" xyz="0.00000 0.00000 0.00000"/>
			<geometry>
				<sphere radius="0.00001"/>
			</geometry>
		</collision>
	</link>
	<link name="left_clavicle_rx">
		<inertial>
			<origin rpy="0.00000 -0.00000 0.00000" xyz="0.00000 0.00000 0.00000"/>
			<mass value="0.00001"/>
			<inertia ixx="0.00000" ixy="0" ixz="0" iyy="0.00000" iyz="0" izz="0.00000"/>
		</inertial>
		<visual>
			<origin rpy="0.00000 -0.00000 0.00000" xyz="0.00000 0.00000 0.00000"/>
			<geometry>
				<mesh filename="./assistive_gym/envs/assets/human/meshes/L_Collar.obj" scale="1.00000 1.00000 1.00000"/>
			</geometry>
			<material name="mat_56_0">
				<color rgba="0.71879 0.53909 0.35939 1.00000" />
			</material>
		</visual>
		<collision>
			<origin rpy="0.00000 -0.00000 0.00000" xyz="0.00000 0.00000 0.00000"/>
			<geometry>
				<mesh filename="./assistive_gym/envs/assets/human/meshes/L_Collar.obj" scale="1.00000 1.00000 1.00000"/>
			</geometry>
		</collision>
	</link>
	<link name="left_clavicle_ry">
		<inertial>
			<origin rpy="0.00000 -0.00000 0.00000" xyz="0.00000 0.00000 0.00000"/>
			<mass value="0.00001"/>
			<inertia ixx="0.00000" ixy="0" ixz="0" iyy="0.00000" iyz="0" izz="0.00000"/>
		</inertial>
		<visual>
			<origin rpy="0.00000 -0.00000 0.00000" xyz="0.00000 0.00000 0.00000"/>
			<geometry>
				<sphere radius="0.00000"/>
			</geometry>
			<material name="mat_57_0">
				<color rgba="0.71879 0.53909 0.35939 1.00000" />
			</material>
		</visual>
		<collision>
			<origin rpy="0.00000 -0.00000 0.00000" xyz="0.00000 0.00000 0.00000"/>
			<geometry>
				<sphere radius="0.00000"/>
			</geometry>
		</collision>
	</link>
	<link name="left_clavicle_rz">
		<inertial>
			<origin rpy="0.00000 -0.00000 0.00000" xyz="0.00000 0.00000 0.00000"/>
			<mass value="0.00001"/>
			<inertia ixx="0.00000" ixy="0" ixz="0" iyy="0.00000" iyz="0" izz="0.00000"/>
		</inertial>
		<visual>
			<origin rpy="0.00000 -0.00000 0.00000" xyz="0.00000 0.00000 0.00000"/>
			<geometry>
				<sphere radius="0.00001"/>
			</geometry>
			<material name="mat_58_0">
				<color rgba="0.71879 0.53909 0.35939 1.00000" />
			</material>
		</visual>
		<collision>
			<origin rpy="0.00000 -0.00000 0.00000" xyz="0.00000 0.00000 0.00000"/>
			<geometry>
				<sphere radius="0.00001"/>
			</geometry>
		</collision>
	</link>
	<link name="left_shoulder_limb">
		<inertial>
			<origin rpy="0.00000 -0.00000 0.00000" xyz="0.00000 0.00000 0.00000"/>
			<mass value="1.00000"/>
			<inertia ixx="0.00336" ixy="0" ixz="0" iyy="0.00654" iyz="0" izz="0.00696"/>
		</inertial>
		<visual>
			<origin rpy="0.00000 -0.00000 0.00000" xyz="0.00000 0.00000 0.00000"/>
			<geometry>
				<mesh filename="./assistive_gym/envs/assets/human/meshes/L_Shoulder.obj" scale="1.00000 1.00000 1.00000"/>
			</geometry>
			<material name="mat_59_0">
				<color rgba="0.71879 0.53909 0.35939 1.00000" />
			</material>
		</visual>
		<collision>
			<origin rpy="0.00000 -0.00000 0.00000" xyz="0.00000 0.00000 0.00000"/>
			<geometry>
				<mesh filename="./assistive_gym/envs/assets/human/meshes/L_Shoulder.obj" scale="1.00000 1.00000 1.00000"/>
			</geometry>
		</collision>
	</link>
	<link name="left_shoulder_rx">
		<inertial>
			<origin rpy="0.00000 -0.00000 0.00000" xyz="0.00000 0.00000 0.00000"/>
			<mass value="0.00001"/>
			<inertia ixx="0.00000" ixy="0" ixz="0" iyy="0.00000" iyz="0" izz="0.00000"/>
		</inertial>
		<visual>
			<origin rpy="0.00000 -0.00000 0.00000" xyz="0.00000 0.00000 0.00000"/>
			<geometry>
				<sphere radius="0.00000"/>
			</geometry>
			<material name="mat_60_0">
				<color rgba="0.71879 0.53909 0.35939 1.00000" />
			</material>
		</visual>
		<collision>
			<origin rpy="0.00000 -0.00000 0.00000" xyz="0.00000 0.00000 0.00000"/>
			<geometry>
				<sphere radius="0.00000"/>
			</geometry>
		</collision>
	</link>
	<link name="left_shoulder_ry">
		<inertial>
			<origin rpy="0.00000 -0.00000 0.00000" xyz="0.00000 0.00000 0.00000"/>
			<mass value="0.00001"/>
			<inertia ixx="0.00000" ixy="0" ixz="0" iyy="0.00000" iyz="0" izz="0.00000"/>
		</inertial>
		<visual>
			<origin rpy="0.00000 -0.00000 0.00000" xyz="0.00000 0.00000 0.00000"/>
			<geometry>
				<sphere radius="0.00000"/>
			</geometry>
			<material name="mat_61_0">
				<color rgba="0.71879 0.53909 0.35939 1.00000" />
			</material>
		</visual>
		<collision>
			<origin rpy="0.00000 -0.00000 0.00000" xyz="0.00000 0.00000 0.00000"/>
			<geometry>
				<sphere radius="0.00000"/>
			</geometry>
		</collision>
	</link>
	<link name="left_shoulder_rz">
		<inertial>
			<origin rpy="0.00000 -0.00000 0.00000" xyz="0.00000 0.00000 0.00000"/>
			<mass value="0.00001"/>
			<inertia ixx="0.00000" ixy="0" ixz="0" iyy="0.00000" iyz="0" izz="0.00000"/>
		</inertial>
		<visual>
			<origin rpy="0.00000 -0.00000 0.00000" xyz="0.00000 0.00000 0.00000"/>
			<geometry>
				<sphere radius="0.00001"/>
			</geometry>
			<material name="mat_62_0">
				<color rgba="0.71879 0.53909 0.35939 1.00000" />
			</material>
		</visual>
		<collision>
			<origin rpy="0.00000 -0.00000 0.00000" xyz="0.00000 0.00000 0.00000"/>
			<geometry>
				<sphere radius="0.00001"/>
			</geometry>
		</collision>
	</link>
	<link name="left_elbow_limb">
		<inertial>
			<origin rpy="0.00000 -0.00000 0.00000" xyz="0.00000 0.00000 0.00000"/>
			<mass value="1.00000"/>
			<inertia ixx="0.00171" ixy="0" ixz="0" iyy="0.00745" iyz="0" izz="0.00768"/>
		</inertial>
		<visual>
			<origin rpy="0.00000 -0.00000 0.00000" xyz="0.00000 0.00000 0.00000"/>
			<geometry>
				<mesh filename="./assistive_gym/envs/assets/human/meshes/L_Elbow.obj" scale="1.00000 1.00000 1.00000"/>
			</geometry>
			<material name="mat_63_0">
				<color rgba="0.71879 0.53909 0.35939 1.00000" />
			</material>
		</visual>
		<collision>
			<origin rpy="0.00000 -0.00000 0.00000" xyz="0.00000 0.00000 0.00000"/>
			<geometry>
				<mesh filename="./assistive_gym/envs/assets/human/meshes/L_Elbow.obj" scale="1.00000 1.00000 1.00000"/>
			</geometry>
		</collision>
	</link>
	<link name="left_elbow_rx">
		<inertial>
			<origin rpy="0.00000 -0.00000 0.00000" xyz="0.00000 0.00000 0.00000"/>
			<mass value="0.00001"/>
			<inertia ixx="0.00000" ixy="0" ixz="0" iyy="0.00000" iyz="0" izz="0.00000"/>
		</inertial>
		<visual>
			<origin rpy="0.00000 -0.00000 0.00000" xyz="0.00000 0.00000 0.00000"/>
			<geometry>
				<sphere radius="0.03000"/>
			</geometry>
			<material name="mat_64_0">
				<color rgba="0.71879 0.53909 0.35939 1.00000" />
			</material>
		</visual>
		<collision>
			<origin rpy="0.00000 -0.00000 0.00000" xyz="0.00000 0.00000 0.00000"/>
			<geometry>
				<sphere radius="0.03000"/>
			</geometry>
		</collision>
	</link>
	<link name="left_elbow_ry">
		<inertial>
			<origin rpy="0.00000 -0.00000 0.00000" xyz="0.00000 0.00000 0.00000"/>
			<mass value="0.00001"/>
			<inertia ixx="0.00000" ixy="0" ixz="0" iyy="0.00000" iyz="0" izz="0.00000"/>
		</inertial>
		<visual>
			<origin rpy="0.00000 -0.00000 0.00000" xyz="0.00000 0.00000 0.00000"/>
			<geometry>
				<sphere radius="0.00000"/>
			</geometry>
			<material name="mat_65_0">
				<color rgba="0.71879 0.53909 0.35939 1.00000" />
			</material>
		</visual>
		<collision>
			<origin rpy="0.00000 -0.00000 0.00000" xyz="0.00000 0.00000 0.00000"/>
			<geometry>
				<sphere radius="0.00000"/>
			</geometry>
		</collision>
	</link>
	<link name="left_elbow_rz">
		<inertial>
			<origin rpy="0.00000 -0.00000 0.00000" xyz="0.00000 0.00000 0.00000"/>
			<mass value="0.00001"/>
			<inertia ixx="0.00000" ixy="0" ixz="0" iyy="0.00000" iyz="0" izz="0.00000"/>
		</inertial>
		<visual>
			<origin rpy="0.00000 -0.00000 0.00000" xyz="0.00000 0.00000 0.00000"/>
			<geometry>
				<sphere radius="0.00001"/>
			</geometry>
			<material name="mat_66_0">
				<color rgba="0.71879 0.53909 0.35939 1.00000" />
			</material>
		</visual>
		<collision>
			<origin rpy="0.00000 -0.00000 0.00000" xyz="0.00000 0.00000 0.00000"/>
			<geometry>
				<sphere radius="0.00001"/>
			</geometry>
		</collision>
	</link>
	<link name="left_lowarm_limb">
		<inertial>
			<origin rpy="0.00000 -0.00000 0.00000" xyz="0.00000 0.00000 0.00000"/>
			<mass value="1.00000"/>
			<inertia ixx="0.00235" ixy="0" ixz="0" iyy="0.00308" iyz="0" izz="0.00149"/>
		</inertial>
		<visual>
			<origin rpy="0.00000 -0.00000 0.00000" xyz="0.00000 0.00000 0.00000"/>
			<geometry>
				<mesh filename="./assistive_gym/envs/assets/human/meshes/L_Wrist.obj" scale="1.00000 1.00000 1.00000"/>
			</geometry>
			<material name="mat_67_0">
				<color rgba="0.71879 0.53909 0.35939 1.00000" />
			</material>
		</visual>
		<collision>
			<origin rpy="0.00000 -0.00000 0.00000" xyz="0.00000 0.00000 0.00000"/>
			<geometry>
				<mesh filename="./assistive_gym/envs/assets/human/meshes/L_Wrist.obj" scale="1.00000 1.00000 1.00000"/>
			</geometry>
		</collision>
	</link>
	<link name="left_lowarm_rx">
		<inertial>
			<origin rpy="0.00000 -0.00000 0.00000" xyz="0.00000 0.00000 0.00000"/>
			<mass value="0.00001"/>
			<inertia ixx="0.00000" ixy="0" ixz="0" iyy="0.00000" iyz="0" izz="0.00000"/>
		</inertial>
		<visual>
			<origin rpy="0.00000 -0.00000 0.00000" xyz="0.00000 0.00000 0.00000"/>
			<geometry>
				<sphere radius="0.00000"/>
			</geometry>
			<material name="mat_68_0">
				<color rgba="0.71879 0.53909 0.35939 1.00000" />
			</material>
		</visual>
		<collision>
			<origin rpy="0.00000 -0.00000 0.00000" xyz="0.00000 0.00000 0.00000"/>
			<geometry>
				<sphere radius="0.00000"/>
			</geometry>
		</collision>
	</link>
	<link name="left_lowarm_ry">
		<inertial>
			<origin rpy="0.00000 -0.00000 0.00000" xyz="0.00000 0.00000 0.00000"/>
			<mass value="0.00001"/>
			<inertia ixx="0.00000" ixy="0" ixz="0" iyy="0.00000" iyz="0" izz="0.00000"/>
		</inertial>
		<visual>
			<origin rpy="0.00000 -0.00000 0.00000" xyz="0.00000 0.00000 0.00000"/>
			<geometry>
				<sphere radius="0.00000"/>
			</geometry>
			<material name="mat_69_0">
				<color rgba="0.71879 0.53909 0.35939 1.00000" />
			</material>
		</visual>
		<collision>
			<origin rpy="0.00000 -0.00000 0.00000" xyz="0.00000 0.00000 0.00000"/>
			<geometry>
				<sphere radius="0.00000"/>
			</geometry>
		</collision>
	</link>
	<link name="left_lowarm_rz">
		<inertial>
			<origin rpy="0.00000 -0.00000 0.00000" xyz="0.00000 0.00000 0.00000"/>
			<mass value="0.00001"/>
			<inertia ixx="0.00000" ixy="0" ixz="0" iyy="0.00000" iyz="0" izz="0.00000"/>
		</inertial>
		<visual>
			<origin rpy="0.00000 -0.00000 0.00000" xyz="0.00000 0.00000 0.00000"/>
			<geometry>
				<sphere radius="0.00001"/>
			</geometry>
			<material name="mat_70_0">
				<color rgba="0.71879 0.53909 0.35939 1.00000" />
			</material>
		</visual>
		<collision>
			<origin rpy="0.00000 -0.00000 0.00000" xyz="0.00000 0.00000 0.00000"/>
			<geometry>
				<sphere radius="0.00001"/>
			</geometry>
		</collision>
	</link>
	<link name="left_hand_limb">
		<inertial>
			<origin rpy="0.00000 -0.00000 0.00000" xyz="0.00000 0.00000 0.00000"/>
			<mass value="0.50000"/>
			<inertia ixx="0.00069" ixy="0" ixz="0" iyy="0.00132" iyz="0" izz="0.00077"/>
		</inertial>
		<visual>
			<origin rpy="0.00000 -0.00000 0.00000" xyz="0.00000 0.00000 0.00000"/>
			<geometry>
				<mesh filename="./assistive_gym/envs/assets/human/meshes/L_Hand.obj" scale="1.00000 1.00000 1.00000"/>
			</geometry>
			<material name="mat_71_0">
				<color rgba="0.71879 0.53909 0.35939 1.00000" />
			</material>
		</visual>
		<collision>
			<origin rpy="0.00000 -0.00000 0.00000" xyz="0.00000 0.00000 0.00000"/>
			<geometry>
				<mesh filename="./assistive_gym/envs/assets/human/meshes/L_Hand.obj" scale="1.00000 1.00000 1.00000"/>
			</geometry>
		</collision>
	</link>
	<link name="left_hand_rx">
		<inertial>
			<origin rpy="0.00000 -0.00000 0.00000" xyz="0.00000 0.00000 0.00000"/>
			<mass value="0.00001"/>
			<inertia ixx="0.00000" ixy="0" ixz="0" iyy="0.00000" iyz="0" izz="0.00000"/>
		</inertial>
		<visual>
			<origin rpy="0.00000 -0.00000 0.00000" xyz="0.00000 0.00000 0.00000"/>
			<geometry>
				<sphere radius="0.00000"/>
			</geometry>
			<material name="mat_72_0">
				<color rgba="0.71879 0.53909 0.35939 1.00000" />
			</material>
		</visual>
		<collision>
			<origin rpy="0.00000 -0.00000 0.00000" xyz="0.00000 0.00000 0.00000"/>
			<geometry>
				<sphere radius="0.00000"/>
			</geometry>
		</collision>
	</link>
	<link name="left_hand_ry">
		<inertial>
			<origin rpy="0.00000 -0.00000 0.00000" xyz="0.00000 0.00000 0.00000"/>
			<mass value="0.00001"/>
			<inertia ixx="0.00000" ixy="0" ixz="0" iyy="0.00000" iyz="0" izz="0.00000"/>
		</inertial>
		<visual>
			<origin rpy="0.00000 -0.00000 0.00000" xyz="0.00000 0.00000 0.00000"/>
			<geometry>
				<sphere radius="0.00000"/>
			</geometry>
			<material name="mat_73_0">
				<color rgba="0.71879 0.53909 0.35939 1.00000" />
			</material>
		</visual>
		<collision>
			<origin rpy="0.00000 -0.00000 0.00000" xyz="0.00000 0.00000 0.00000"/>
			<geometry>
				<sphere radius="0.00000"/>
			</geometry>
		</collision>
	</link>
	<link name="left_hand_rz">
		<inertial>
			<origin rpy="0.00000 -0.00000 0.00000" xyz="0.00000 0.00000 0.00000"/>
			<mass value="0.00001"/>
			<inertia ixx="0.00000" ixy="0" ixz="0" iyy="0.00000" iyz="0" izz="0.00000"/>
		</inertial>
		<visual>
			<origin rpy="0.00000 -0.00000 0.00000" xyz="0.00000 0.00000 0.00000"/>
			<geometry>
				<sphere radius="0.00001"/>
			</geometry>
			<material name="mat_74_0">
				<color rgba="0.71879 0.53909 0.35939 1.00000" />
			</material>
		</visual>
		<collision>
			<origin rpy="0.00000 -0.00000 0.00000" xyz="0.00000 0.00000 0.00000"/>
			<geometry>
				<sphere radius="0.00001"/>
			</geometry>
		</collision>
	</link>
	<link name="right_clavicle_rx">
		<inertial>
			<origin rpy="0.00000 -0.00000 0.00000" xyz="0.00000 0.00000 0.00000"/>
			<mass value="0.00001"/>
			<inertia ixx="0.00000" ixy="0" ixz="0" iyy="0.00000" iyz="0" izz="0.00000"/>
		</inertial>
		<visual>
			<origin rpy="0.00000 -0.00000 0.00000" xyz="0.00000 0.00000 0.00000"/>
			<geometry>
				<mesh filename="./assistive_gym/envs/assets/human/meshes/R_Collar.obj" scale="1.00000 1.00000 1.00000"/>
			</geometry>
			<material name="mat_75_0">
				<color rgba="0.71879 0.53909 0.35939 1.00000" />
			</material>
		</visual>
		<collision>
			<origin rpy="0.00000 -0.00000 0.00000" xyz="0.00000 0.00000 0.00000"/>
			<geometry>
				<mesh filename="./assistive_gym/envs/assets/human/meshes/R_Collar.obj" scale="1.00000 1.00000 1.00000"/>
			</geometry>
		</collision>
	</link>
	<link name="right_clavicle_ry">
		<inertial>
			<origin rpy="0.00000 -0.00000 0.00000" xyz="0.00000 0.00000 0.00000"/>
			<mass value="0.00001"/>
			<inertia ixx="0.00000" ixy="0" ixz="0" iyy="0.00000" iyz="0" izz="0.00000"/>
		</inertial>
		<visual>
			<origin rpy="0.00000 -0.00000 0.00000" xyz="0.00000 0.00000 0.00000"/>
			<geometry>
				<sphere radius="0.00000"/>
			</geometry>
			<material name="mat_76_0">
				<color rgba="0.71879 0.53909 0.35939 1.00000" />
			</material>
		</visual>
		<collision>
			<origin rpy="0.00000 -0.00000 0.00000" xyz="0.00000 0.00000 0.00000"/>
			<geometry>
				<sphere radius="0.00000"/>
			</geometry>
		</collision>
	</link>
	<link name="right_clavicle_rz">
		<inertial>
			<origin rpy="0.00000 -0.00000 0.00000" xyz="0.00000 0.00000 0.00000"/>
			<mass value="0.00001"/>
			<inertia ixx="0.00000" ixy="0" ixz="0" iyy="0.00000" iyz="0" izz="0.00000"/>
		</inertial>
		<visual>
			<origin rpy="0.00000 -0.00000 0.00000" xyz="0.00000 0.00000 0.00000"/>
			<geometry>
				<sphere radius="0.00001"/>
			</geometry>
			<material name="mat_77_0">
				<color rgba="0.71879 0.53909 0.35939 1.00000" />
			</material>
		</visual>
		<collision>
			<origin rpy="0.00000 -0.00000 0.00000" xyz="0.00000 0.00000 0.00000"/>
			<geometry>
				<sphere radius="0.00001"/>
			</geometry>
		</collision>
	</link>
	<link name="right_shoulder_limb">
		<inertial>
			<origin rpy="0.00000 -0.00000 0.00000" xyz="0.00000 0.00000 0.00000"/>
			<mass value="1.00000"/>
			<inertia ixx="0.00365" ixy="0" ixz="0" iyy="0.00665" iyz="0" izz="0.00699"/>
		</inertial>
		<visual>
			<origin rpy="0.00000 -0.00000 0.00000" xyz="0.00000 0.00000 0.00000"/>
			<geometry>
				<mesh filename="./assistive_gym/envs/assets/human/meshes/R_Shoulder.obj" scale="1.00000 1.00000 1.00000"/>
			</geometry>
			<material name="mat_78_0">
				<color rgba="0.71879 0.53909 0.35939 1.00000" />
			</material>
		</visual>
		<collision>
			<origin rpy="0.00000 -0.00000 0.00000" xyz="0.00000 0.00000 0.00000"/>
			<geometry>
				<mesh filename="./assistive_gym/envs/assets/human/meshes/R_Shoulder.obj" scale="1.00000 1.00000 1.00000"/>
			</geometry>
		</collision>
	</link>
	<link name="right_shoulder_rx">
		<inertial>
			<origin rpy="0.00000 -0.00000 0.00000" xyz="0.00000 0.00000 0.00000"/>
			<mass value="0.00001"/>
			<inertia ixx="0.00000" ixy="0" ixz="0" iyy="0.00000" iyz="0" izz="0.00000"/>
		</inertial>
		<visual>
			<origin rpy="0.00000 -0.00000 0.00000" xyz="0.00000 0.00000 0.00000"/>
			<geometry>
				<sphere radius="0.00000"/>
			</geometry>
			<material name="mat_79_0">
				<color rgba="0.71879 0.53909 0.35939 1.00000" />
			</material>
		</visual>
		<collision>
			<origin rpy="0.00000 -0.00000 0.00000" xyz="0.00000 0.00000 0.00000"/>
			<geometry>
				<sphere radius="0.00000"/>
			</geometry>
		</collision>
	</link>
	<link name="right_shoulder_ry">
		<inertial>
			<origin rpy="0.00000 -0.00000 0.00000" xyz="0.00000 0.00000 0.00000"/>
			<mass value="0.00001"/>
			<inertia ixx="0.00000" ixy="0" ixz="0" iyy="0.00000" iyz="0" izz="0.00000"/>
		</inertial>
		<visual>
			<origin rpy="0.00000 -0.00000 0.00000" xyz="0.00000 0.00000 0.00000"/>
			<geometry>
				<sphere radius="0.00000"/>
			</geometry>
			<material name="mat_80_0">
				<color rgba="0.71879 0.53909 0.35939 1.00000" />
			</material>
		</visual>
		<collision>
			<origin rpy="0.00000 -0.00000 0.00000" xyz="0.00000 0.00000 0.00000"/>
			<geometry>
				<sphere radius="0.00000"/>
			</geometry>
		</collision>
	</link>
	<link name="right_shoulder_rz">
		<inertial>
			<origin rpy="0.00000 -0.00000 0.00000" xyz="0.00000 0.00000 0.00000"/>
			<mass value="0.00001"/>
			<inertia ixx="0.00000" ixy="0" ixz="0" iyy="0.00000" iyz="0" izz="0.00000"/>
		</inertial>
		<visual>
			<origin rpy="0.00000 -0.00000 0.00000" xyz="0.00000 0.00000 0.00000"/>
			<geometry>
				<sphere radius="0.00001"/>
			</geometry>
			<material name="mat_81_0">
				<color rgba="0.71879 0.53909 0.35939 1.00000" />
			</material>
		</visual>
		<collision>
			<origin rpy="0.00000 -0.00000 0.00000" xyz="0.00000 0.00000 0.00000"/>
			<geometry>
				<sphere radius="0.00001"/>
			</geometry>
		</collision>
	</link>
	<link name="right_elbow_limb">
		<inertial>
			<origin rpy="0.00000 -0.00000 0.00000" xyz="0.00000 0.00000 0.00000"/>
			<mass value="1.00000"/>
			<inertia ixx="0.00170" ixy="0" ixz="0" iyy="0.00717" iyz="0" izz="0.00735"/>
		</inertial>
		<visual>
			<origin rpy="0.00000 -0.00000 0.00000" xyz="0.00000 0.00000 0.00000"/>
			<geometry>
				<mesh filename="./assistive_gym/envs/assets/human/meshes/R_Elbow.obj" scale="1.00000 1.00000 1.00000"/>
			</geometry>
			<material name="mat_82_0">
				<color rgba="0.71879 0.53909 0.35939 1.00000" />
			</material>
		</visual>
		<collision>
			<origin rpy="0.00000 -0.00000 0.00000" xyz="0.00000 0.00000 0.00000"/>
			<geometry>
				<mesh filename="./assistive_gym/envs/assets/human/meshes/R_Elbow.obj" scale="1.00000 1.00000 1.00000"/>
			</geometry>
		</collision>
	</link>
	<link name="right_elbow_rx">
		<inertial>
			<origin rpy="0.00000 -0.00000 0.00000" xyz="0.00000 0.00000 0.00000"/>
			<mass value="0.00001"/>
			<inertia ixx="0.00000" ixy="0" ixz="0" iyy="0.00000" iyz="0" izz="0.00000"/>
		</inertial>
		<visual>
			<origin rpy="0.00000 -0.00000 0.00000" xyz="0.00000 0.00000 0.00000"/>
			<geometry>
				<sphere radius="0.03000"/>
			</geometry>
			<material name="mat_83_0">
				<color rgba="0.71879 0.53909 0.35939 1.00000" />
			</material>
		</visual>
		<collision>
			<origin rpy="0.00000 -0.00000 0.00000" xyz="0.00000 0.00000 0.00000"/>
			<geometry>
				<sphere radius="0.03000"/>
			</geometry>
		</collision>
	</link>
	<link name="right_elbow_ry">
		<inertial>
			<origin rpy="0.00000 -0.00000 0.00000" xyz="0.00000 0.00000 0.00000"/>
			<mass value="0.00001"/>
			<inertia ixx="0.00000" ixy="0" ixz="0" iyy="0.00000" iyz="0" izz="0.00000"/>
		</inertial>
		<visual>
			<origin rpy="0.00000 -0.00000 0.00000" xyz="0.00000 0.00000 0.00000"/>
			<geometry>
				<sphere radius="0.00000"/>
			</geometry>
			<material name="mat_84_0">
				<color rgba="0.71879 0.53909 0.35939 1.00000" />
			</material>
		</visual>
		<collision>
			<origin rpy="0.00000 -0.00000 0.00000" xyz="0.00000 0.00000 0.00000"/>
			<geometry>
				<sphere radius="0.00000"/>
			</geometry>
		</collision>
	</link>
	<link name="right_elbow_rz">
		<inertial>
			<origin rpy="0.00000 -0.00000 0.00000" xyz="0.00000 0.00000 0.00000"/>
			<mass value="0.00001"/>
			<inertia ixx="0.00000" ixy="0" ixz="0" iyy="0.00000" iyz="0" izz="0.00000"/>
		</inertial>
		<visual>
			<origin rpy="0.00000 -0.00000 0.00000" xyz="0.00000 0.00000 0.00000"/>
			<geometry>
				<sphere radius="0.00001"/>
			</geometry>
			<material name="mat_85_0">
				<color rgba="0.71879 0.53909 0.35939 1.00000" />
			</material>
		</visual>
		<collision>
			<origin rpy="0.00000 -0.00000 0.00000" xyz="0.00000 0.00000 0.00000"/>
			<geometry>
				<sphere radius="0.00001"/>
			</geometry>
		</collision>
	</link>
	<link name="right_lowarm_limb">
		<inertial>
			<origin rpy="0.00000 -0.00000 0.00000" xyz="0.00000 0.00000 0.00000"/>
			<mass value="1.00000"/>
			<inertia ixx="0.00244" ixy="0" ixz="0" iyy="0.00313" iyz="0" izz="0.00146"/>
		</inertial>
		<visual>
			<origin rpy="0.00000 -0.00000 0.00000" xyz="0.00000 0.00000 0.00000"/>
			<geometry>
				<mesh filename="./assistive_gym/envs/assets/human/meshes/R_Wrist.obj" scale="1.00000 1.00000 1.00000"/>
			</geometry>
			<material name="mat_86_0">
				<color rgba="0.71879 0.53909 0.35939 1.00000" />
			</material>
		</visual>
		<collision>
			<origin rpy="0.00000 -0.00000 0.00000" xyz="0.00000 0.00000 0.00000"/>
			<geometry>
				<mesh filename="./assistive_gym/envs/assets/human/meshes/R_Wrist.obj" scale="1.00000 1.00000 1.00000"/>
			</geometry>
		</collision>
	</link>
	<link name="right_lowarm_rx">
		<inertial>
			<origin rpy="0.00000 -0.00000 0.00000" xyz="0.00000 0.00000 0.00000"/>
			<mass value="0.00001"/>
			<inertia ixx="0.00000" ixy="0" ixz="0" iyy="0.00000" iyz="0" izz="0.00000"/>
		</inertial>
		<visual>
			<origin rpy="0.00000 -0.00000 0.00000" xyz="0.00000 0.00000 0.00000"/>
			<geometry>
				<sphere radius="0.00000"/>
			</geometry>
			<material name="mat_87_0">
				<color rgba="0.71879 0.53909 0.35939 1.00000" />
			</material>
		</visual>
		<collision>
			<origin rpy="0.00000 -0.00000 0.00000" xyz="0.00000 0.00000 0.00000"/>
			<geometry>
				<sphere radius="0.00000"/>
			</geometry>
		</collision>
	</link>
	<link name="right_lowarm_ry">
		<inertial>
			<origin rpy="0.00000 -0.00000 0.00000" xyz="0.00000 0.00000 0.00000"/>
			<mass value="0.00001"/>
			<inertia ixx="0.00000" ixy="0" ixz="0" iyy="0.00000" iyz="0" izz="0.00000"/>
		</inertial>
		<visual>
			<origin rpy="0.00000 -0.00000 0.00000" xyz="0.00000 0.00000 0.00000"/>
			<geometry>
				<sphere radius="0.00000"/>
			</geometry>
			<material name="mat_88_0">
				<color rgba="0.71879 0.53909 0.35939 1.00000" />
			</material>
		</visual>
		<collision>
			<origin rpy="0.00000 -0.00000 0.00000" xyz="0.00000 0.00000 0.00000"/>
			<geometry>
				<sphere radius="0.00000"/>
			</geometry>
		</collision>
	</link>
	<link name="right_lowarm_rz">
		<inertial>
			<origin rpy="0.00000 -0.00000 0.00000" xyz="0.00000 0.00000 0.00000"/>
			<mass value="0.00001"/>
			<inertia ixx="0.00000" ixy="0" ixz="0" iyy="0.00000" iyz="0" izz="0.00000"/>
		</inertial>
		<visual>
			<origin rpy="0.00000 -0.00000 0.00000" xyz="0.00000 0.00000 0.00000"/>
			<geometry>
				<sphere radius="0.00001"/>
			</geometry>
			<material name="mat_89_0">
				<color rgba="0.71879 0.53909 0.35939 1.00000" />
			</material>
		</visual>
		<collision>
			<origin rpy="0.00000 -0.00000 0.00000" xyz="0.00000 0.00000 0.00000"/>
			<geometry>
				<sphere radius="0.00001"/>
			</geometry>
		</collision>
	</link>
	<link name="right_hand_limb">
		<inertial>
			<origin rpy="0.00000 -0.00000 0.00000" xyz="0.00000 0.00000 0.00000"/>
			<mass value="0.50000"/>
			<inertia ixx="0.00071" ixy="0" ixz="0" iyy="0.00131" iyz="0" izz="0.00075"/>
		</inertial>
		<visual>
			<origin rpy="0.00000 -0.00000 0.00000" xyz="0.00000 0.00000 0.00000"/>
			<geometry>
				<mesh filename="./assistive_gym/envs/assets/human/meshes/R_Hand.obj" scale="1.00000 1.00000 1.00000"/>
			</geometry>
			<material name="mat_90_0">
				<color rgba="0.71879 0.53909 0.35939 1.00000" />
			</material>
		</visual>
		<collision>
			<origin rpy="0.00000 -0.00000 0.00000" xyz="0.00000 0.00000 0.00000"/>
			<geometry>
				<mesh filename="./assistive_gym/envs/assets/human/meshes/R_Hand.obj" scale="1.00000 1.00000 1.00000"/>
			</geometry>
		</collision>
	</link>
	<link name="right_hand_rx">
		<inertial>
			<origin rpy="0.00000 -0.00000 0.00000" xyz="0.00000 0.00000 0.00000"/>
			<mass value="0.00001"/>
			<inertia ixx="0.00000" ixy="0" ixz="0" iyy="0.00000" iyz="0" izz="0.00000"/>
		</inertial>
		<visual>
			<origin rpy="0.00000 -0.00000 0.00000" xyz="0.00000 0.00000 0.00000"/>
			<geometry>
				<sphere radius="0.00000"/>
			</geometry>
			<material name="mat_91_0">
				<color rgba="0.71879 0.53909 0.35939 1.00000" />
			</material>
		</visual>
		<collision>
			<origin rpy="0.00000 -0.00000 0.00000" xyz="0.00000 0.00000 0.00000"/>
			<geometry>
				<sphere radius="0.00000"/>
			</geometry>
		</collision>
	</link>
	<link name="right_hand_ry">
		<inertial>
			<origin rpy="0.00000 -0.00000 0.00000" xyz="0.00000 0.00000 0.00000"/>
			<mass value="0.00001"/>
			<inertia ixx="0.00000" ixy="0" ixz="0" iyy="0.00000" iyz="0" izz="0.00000"/>
		</inertial>
		<visual>
			<origin rpy="0.00000 -0.00000 0.00000" xyz="0.00000 0.00000 0.00000"/>
			<geometry>
				<sphere radius="0.00000"/>
			</geometry>
			<material name="mat_92_0">
				<color rgba="0.71879 0.53909 0.35939 1.00000" />
			</material>
		</visual>
		<collision>
			<origin rpy="0.00000 -0.00000 0.00000" xyz="0.00000 0.00000 0.00000"/>
			<geometry>
				<sphere radius="0.00000"/>
			</geometry>
		</collision>
	</link>
	<link name="right_hand_rz">
		<inertial>
			<origin rpy="0.00000 -0.00000 0.00000" xyz="0.00000 0.00000 0.00000"/>
			<mass value="0.00001"/>
			<inertia ixx="0.00000" ixy="0" ixz="0" iyy="0.00000" iyz="0" izz="0.00000"/>
		</inertial>
		<visual>
			<origin rpy="0.00000 -0.00000 0.00000" xyz="0.00000 0.00000 0.00000"/>
			<geometry>
				<sphere radius="0.00001"/>
			</geometry>
			<material name="mat_93_0">
				<color rgba="0.71879 0.53909 0.35939 1.00000" />
			</material>
		</visual>
		<collision>
			<origin rpy="0.00000 -0.00000 0.00000" xyz="0.00000 0.00000 0.00000"/>
			<geometry>
				<sphere radius="0.00001"/>
			</geometry>
		</collision>
	</link>
	<joint name="pelvis" type="fixed">
		<parent link="base"/>
		<child link="pelvis"/>
		<dynamics damping="1.0" friction="0.0001"/>
		<origin rpy="0.00000 -0.00000 0.00000" xyz="0.00000 0.00000 0.00000"/>
		<axis xyz="0.00000 0.00000 0.00000"/>
	</joint>
	<joint name="pelvis_dammy" type="fixed">
		<parent link="pelvis"/>
		<child link="pelvis_dammy"/>
		<dynamics damping="1.0" friction="0.0001"/>
		<origin rpy="0.00000 -0.00000 0.00000" xyz="0.00000 0.00000 0.00000"/>
		<axis xyz="0.00000 0.00000 0.00000"/>
	</joint>
	<joint name="left_hip_rx" type="revolute">
		<parent link="pelvis_dammy"/>
		<child link="left_hip_rx"/>
		<limit effort="1000.00000" lower="-2.50000" upper="1.40000" velocity="0.50000"/>
		<dynamics damping="1.0" friction="0.0001"/>
		<origin rpy="0.00000 -0.00000 0.00000" xyz="0.05858 -0.08228 -0.01766"/>
		<axis xyz="0.00000 1.00000 0.00000"/>
	</joint>
	<joint name="left_hip_ry" type="revolute">
		<parent link="left_hip_rx"/>
		<child link="left_hip_ry"/>
		<limit effort="1000.00000" lower="-0.60000" upper="0.60000" velocity="0.50000"/>
		<dynamics damping="1.0" friction="0.0001"/>
		<origin rpy="0.00000 -0.00000 0.00000" xyz="0.00000 0.00000 0.00000"/>
		<axis xyz="0.00000 0.00000 1.00000"/>
	</joint>
	<joint name="left_hip_rz" type="revolute">
		<parent link="left_hip_ry"/>
		<child link="left_hip_rz"/>
		<limit effort="1000.00000" lower="-0.80000" upper="1.40000" velocity="0.50000"/>
		<dynamics damping="1.0" friction="0.0001"/>
		<origin rpy="0.00000 -0.00000 0.00000" xyz="0.00000 0.00000 0.00000"/>
		<axis xyz="1.00000 0.00000 0.00000"/>
	</joint>
	<joint name="left_hip_rzdammy" type="fixed">
		<parent link="left_hip_rz"/>
		<child link="left_knee_limb"/>
		<dynamics damping="1.0" friction="0.0001"/>
		<origin rpy="0.00000 -0.00000 0.00000" xyz="0.04345 -0.38647 0.00804"/>
		<axis xyz="0.00000 0.00000 0.00000"/>
	</joint>
	<joint name="left_knee_rx" type="revolute">
		<parent link="left_knee_limb"/>
		<child link="left_knee_rx"/>
		<limit effort="1000.00000" lower="-0.10000" upper="2.50000" velocity="0.50000"/>
		<dynamics damping="1.0" friction="0.0001"/>
		<origin rpy="0.00000 -0.00000 0.00000" xyz="0.00000 0.00000 0.00000"/>
		<axis xyz="0.00000 1.00000 0.00000"/>
	</joint>
	<joint name="left_knee_ry" type="revolute">
		<parent link="left_knee_rx"/>
		<child link="left_knee_ry"/>
		<limit effort="1000.00000" lower="-2.50000" upper="2.50000" velocity="0.50000"/>
		<dynamics damping="1.0" friction="0.0001"/>
		<origin rpy="0.00000 -0.00000 0.00000" xyz="0.00000 0.00000 0.00000"/>
		<axis xyz="0.00000 0.00000 1.00000"/>
	</joint>
	<joint name="left_knee_rz" type="revolute">
		<parent link="left_knee_ry"/>
		<child link="left_knee_rz"/>
		<limit effort="1000.00000" lower="-2.50000" upper="2.50000" velocity="0.50000"/>
		<dynamics damping="1.0" friction="0.0001"/>
		<origin rpy="0.00000 -0.00000 0.00000" xyz="0.00000 0.00000 0.00000"/>
		<axis xyz="1.00000 0.00000 0.00000"/>
	</joint>
	<joint name="left_knee_rzdammy" type="fixed">
		<parent link="left_knee_rz"/>
		<child link="left_ankle_limb"/>
		<dynamics damping="1.0" friction="0.0001"/>
		<origin rpy="0.00000 -0.00000 0.00000" xyz="-0.01479 -0.42687 -0.03743"/>
		<axis xyz="0.00000 0.00000 0.00000"/>
	</joint>
	<joint name="left_ankle_rx" type="revolute">
		<parent link="left_ankle_limb"/>
		<child link="left_ankle_rx"/>
		<limit effort="1000.00000" lower="-0.40000" upper="0.70000" velocity="0.50000"/>
		<dynamics damping="1.0" friction="0.0001"/>
		<origin rpy="0.00000 -0.00000 0.00000" xyz="0.00000 0.00000 0.00000"/>
		<axis xyz="0.00000 1.00000 0.00000"/>
	</joint>
	<joint name="left_ankle_ry" type="revolute">
		<parent link="left_ankle_rx"/>
		<child link="left_ankle_ry"/>
		<limit effort="1000.00000" lower="-0.50000" upper="0.50000" velocity="0.50000"/>
		<dynamics damping="1.0" friction="0.0001"/>
		<origin rpy="0.00000 -0.00000 0.00000" xyz="0.00000 0.00000 0.00000"/>
		<axis xyz="0.00000 0.00000 1.00000"/>
	</joint>
	<joint name="left_ankle_rz" type="revolute">
		<parent link="left_ankle_ry"/>
		<child link="left_ankle_rz"/>
		<limit effort="1000.00000" lower="-0.40000" upper="0.40000" velocity="0.50000"/>
		<dynamics damping="1.0" friction="0.0001"/>
		<origin rpy="0.00000 -0.00000 0.00000" xyz="0.00000 0.00000 0.00000"/>
		<axis xyz="1.00000 0.00000 0.00000"/>
	</joint>
	<joint name="left_ankle_rzdammy" type="fixed">
		<parent link="left_ankle_rz"/>
		<child link="left_foot_limb"/>
		<dynamics damping="1.0" friction="0.0001"/>
		<origin rpy="0.00000 -0.00000 0.00000" xyz="0.04105 -0.06029 0.12204"/>
		<axis xyz="0.00000 0.00000 0.00000"/>
	</joint>
	<joint name="left_foot_rx" type="revolute">
		<parent link="left_foot_limb"/>
		<child link="left_foot_rx"/>
		<limit effort="1000.00000" lower="-2.50000" upper="2.50000" velocity="0.50000"/>
		<dynamics damping="1.0" friction="0.0001"/>
		<origin rpy="0.00000 -0.00000 0.00000" xyz="0.00000 0.00000 0.00000"/>
		<axis xyz="0.00000 1.00000 0.00000"/>
	</joint>
	<joint name="left_foot_ry" type="revolute">
		<parent link="left_foot_rx"/>
		<child link="left_foot_ry"/>
		<limit effort="1000.00000" lower="-2.50000" upper="2.50000" velocity="0.50000"/>
		<dynamics damping="1.0" friction="0.0001"/>
		<origin rpy="0.00000 -0.00000 0.00000" xyz="0.00000 0.00000 0.00000"/>
		<axis xyz="0.00000 0.00000 1.00000"/>
	</joint>
	<joint name="left_foot_rz" type="revolute">
		<parent link="left_foot_ry"/>
		<child link="left_foot_rz"/>
		<limit effort="0.00000" lower="0.00000" upper="0.00000" velocity="0.00000"/>
		<dynamics damping="1.0" friction="0.0001"/>
		<origin rpy="0.00000 -0.00000 0.00000" xyz="0.00000 0.00000 0.00000"/>
		<axis xyz="1.00000 0.00000 0.00000"/>
	</joint>
	<joint name="left_toe" type="fixed">
		<parent link="left_foot_rz"/>
		<child link="left_toe"/>
		<dynamics damping="1.0" friction="0.0001"/>
		<origin rpy="1.57080 -0.00000 0.00000" xyz="0.00000 0.00000 0.00000"/>
		<axis xyz="0.00000 0.00000 0.00000"/>
	</joint>
	<joint name="left_heel" type="fixed">
		<parent link="left_toe"/>
		<child link="left_heel"/>
		<dynamics damping="1.0" friction="0.0001"/>
		<origin rpy="0.00000 -0.00000 0.00000" xyz="0.00000 0.00000 0.00000"/>
		<axis xyz="0.00000 0.00000 0.00000"/>
	</joint>
	<joint name="right_hip_rx" type="revolute">
		<parent link="pelvis_dammy"/>
		<child link="right_hip_rx"/>
		<limit effort="1000.00000" lower="-2.50000" upper="1.40000" velocity="0.50000"/>
		<dynamics damping="1.0" friction="0.0001"/>
		<origin rpy="0.00000 -0.00000 0.00000" xyz="-0.06031 -0.09051 -0.01354"/>
		<axis xyz="0.00000 1.00000 0.00000"/>
	</joint>
	<joint name="right_hip_ry" type="revolute">
		<parent link="right_hip_rx"/>
		<child link="right_hip_ry"/>
		<limit effort="1000.00000" lower="-0.60000" upper="0.60000" velocity="0.50000"/>
		<dynamics damping="1.0" friction="0.0001"/>
		<origin rpy="0.00000 -0.00000 0.00000" xyz="0.00000 0.00000 0.00000"/>
		<axis xyz="0.00000 0.00000 1.00000"/>
	</joint>
	<joint name="right_hip_rz" type="revolute">
		<parent link="right_hip_ry"/>
		<child link="right_hip_rz"/>
		<limit effort="1000.00000" lower="-1.40000" upper="0.80000" velocity="0.50000"/>
		<dynamics damping="1.0" friction="0.0001"/>
		<origin rpy="0.00000 -0.00000 0.00000" xyz="0.00000 0.00000 0.00000"/>
		<axis xyz="1.00000 0.00000 0.00000"/>
	</joint>
	<joint name="right_hip_rzdammy" type="fixed">
		<parent link="right_hip_rz"/>
		<child link="right_knee_limb"/>
		<dynamics damping="1.0" friction="0.0001"/>
		<origin rpy="0.00000 -0.00000 0.00000" xyz="-0.04326 -0.38369 -0.00484"/>
		<axis xyz="0.00000 0.00000 0.00000"/>
	</joint>
	<joint name="right_knee_rx" type="revolute">
		<parent link="right_knee_limb"/>
		<child link="right_knee_rx"/>
		<limit effort="1000.00000" lower="-0.10000" upper="2.50000" velocity="0.50000"/>
		<dynamics damping="1.0" friction="0.0001"/>
		<origin rpy="0.00000 -0.00000 0.00000" xyz="0.00000 0.00000 0.00000"/>
		<axis xyz="0.00000 1.00000 0.00000"/>
	</joint>
	<joint name="right_knee_ry" type="revolute">
		<parent link="right_knee_rx"/>
		<child link="right_knee_ry"/>
		<limit effort="1000.00000" lower="-2.50000" upper="2.50000" velocity="0.50000"/>
		<dynamics damping="1.0" friction="0.0001"/>
		<origin rpy="0.00000 -0.00000 0.00000" xyz="0.00000 0.00000 0.00000"/>
		<axis xyz="0.00000 0.00000 1.00000"/>
	</joint>
	<joint name="right_knee_rz" type="revolute">
		<parent link="right_knee_ry"/>
		<child link="right_knee_rz"/>
		<limit effort="1000.00000" lower="-2.50000" upper="2.50000" velocity="0.50000"/>
		<dynamics damping="1.0" friction="0.0001"/>
		<origin rpy="0.00000 -0.00000 0.00000" xyz="0.00000 0.00000 0.00000"/>
		<axis xyz="1.00000 0.00000 0.00000"/>
	</joint>
	<joint name="right_knee_rzdammy" type="fixed">
		<parent link="right_knee_rz"/>
		<child link="right_ankle_limb"/>
		<dynamics damping="1.0" friction="0.0001"/>
		<origin rpy="0.00000 -0.00000 0.00000" xyz="0.01906 -0.42005 -0.03456"/>
		<axis xyz="0.00000 0.00000 0.00000"/>
	</joint>
	<joint name="right_ankle_rx" type="revolute">
		<parent link="right_ankle_limb"/>
		<child link="right_ankle_rx"/>
		<limit effort="1000.00000" lower="-0.40000" upper="0.70000" velocity="0.50000"/>
		<dynamics damping="1.0" friction="0.0001"/>
		<origin rpy="0.00000 -0.00000 0.00000" xyz="0.00000 0.00000 0.00000"/>
		<axis xyz="0.00000 1.00000 0.00000"/>
	</joint>
	<joint name="right_ankle_ry" type="revolute">
		<parent link="right_ankle_rx"/>
		<child link="right_ankle_ry"/>
		<limit effort="1000.00000" lower="-0.50000" upper="0.50000" velocity="0.50000"/>
		<dynamics damping="1.0" friction="0.0001"/>
		<origin rpy="0.00000 -0.00000 0.00000" xyz="0.00000 0.00000 0.00000"/>
		<axis xyz="0.00000 0.00000 1.00000"/>
	</joint>
	<joint name="right_ankle_rz" type="revolute">
		<parent link="right_ankle_ry"/>
		<child link="right_ankle_rz"/>
		<limit effort="1000.00000" lower="-0.40000" upper="0.40000" velocity="0.50000"/>
		<dynamics damping="1.0" friction="0.0001"/>
		<origin rpy="0.00000 -0.00000 0.00000" xyz="0.00000 0.00000 0.00000"/>
		<axis xyz="1.00000 0.00000 0.00000"/>
	</joint>
	<joint name="right_ankle_rzdammy" type="fixed">
		<parent link="right_ankle_rz"/>
		<child link="right_foot_limb"/>
		<dynamics damping="1.0" friction="0.0001"/>
		<origin rpy="0.00000 -0.00000 0.00000" xyz="-0.03484 -0.06211 0.13032"/>
		<axis xyz="0.00000 0.00000 0.00000"/>
	</joint>
	<joint name="right_foot_rx" type="revolute">
		<parent link="right_foot_limb"/>
		<child link="right_foot_rx"/>
		<limit effort="1000.00000" lower="-2.50000" upper="2.50000" velocity="0.50000"/>
		<dynamics damping="1.0" friction="0.0001"/>
		<origin rpy="0.00000 -0.00000 0.00000" xyz="0.00000 0.00000 0.00000"/>
		<axis xyz="0.00000 1.00000 0.00000"/>
	</joint>
	<joint name="right_foot_ry" type="revolute">
		<parent link="right_foot_rx"/>
		<child link="right_foot_ry"/>
		<limit effort="1000.00000" lower="-2.50000" upper="2.50000" velocity="0.50000"/>
		<dynamics damping="1.0" friction="0.0001"/>
		<origin rpy="0.00000 -0.00000 0.00000" xyz="0.00000 0.00000 0.00000"/>
		<axis xyz="0.00000 0.00000 1.00000"/>
	</joint>
	<joint name="right_foot_rz" type="revolute">
		<parent link="right_foot_ry"/>
		<child link="right_foot_rz"/>
		<limit effort="1000.00000" lower="0.00000" upper="0.00000" velocity="0.50000"/>
		<dynamics damping="1.0" friction="0.0001"/>
		<origin rpy="0.00000 -0.00000 0.00000" xyz="0.00000 0.00000 0.00000"/>
		<axis xyz="1.00000 0.00000 0.00000"/>
	</joint>
	<joint name="right_toe" type="fixed">
		<parent link="right_foot_rz"/>
		<child link="right_toe"/>
		<dynamics damping="1.0" friction="0.0001"/>
		<origin rpy="1.57080 -0.00000 0.00000" xyz="0.00000 0.00000 0.00000"/>
		<axis xyz="0.00000 0.00000 0.00000"/>
	</joint>
	<joint name="right_heel" type="fixed">
		<parent link="right_toe"/>
		<child link="right_heel"/>
		<dynamics damping="1.0" friction="0.0001"/>
		<origin rpy="0.00000 -0.00000 0.00000" xyz="0.00000 0.00000 0.00000"/>
		<axis xyz="0.00000 0.00000 0.00000"/>
	</joint>
	<joint name="pelvisdammy" type="fixed">
		<parent link="pelvis_dammy"/>
		<child link="spine_2_limb"/>
		<dynamics damping="1.0" friction="0.0001"/>
		<origin rpy="0.00000 -0.00000 0.00000" xyz="0.00000 0.00000 0.00000"/>
		<axis xyz="0.00000 0.00000 0.00000"/>
	</joint>
	<joint name="spine_2_rx" type="revolute">
		<parent link="spine_2_limb"/>
		<child link="spine_2_rx"/>
		<limit effort="1000.00000" lower="-2.50000" upper="2.50000" velocity="0.50000"/>
		<dynamics damping="1.0" friction="0.0001"/>
		<origin rpy="0.00000 -0.00000 0.00000" xyz="0.00000 0.00000 0.00000"/>
		<axis xyz="0.00000 1.00000 0.00000"/>
	</joint>
	<joint name="spine_2_ry" type="revolute">
		<parent link="spine_2_rx"/>
		<child link="spine_2_ry"/>
		<limit effort="1000.00000" lower="-2.50000" upper="2.50000" velocity="0.50000"/>
		<dynamics damping="1.0" friction="0.0001"/>
		<origin rpy="0.00000 -0.00000 0.00000" xyz="0.00000 0.00000 0.00000"/>
		<axis xyz="0.00000 0.00000 1.00000"/>
	</joint>
	<joint name="spine_2_rz" type="revolute">
		<parent link="spine_2_ry"/>
		<child link="spine_2_rz"/>
		<limit effort="1000.00000" lower="-2.50000" upper="2.50000" velocity="0.50000"/>
		<dynamics damping="1.0" friction="0.0001"/>
		<origin rpy="0.00000 -0.00000 0.00000" xyz="0.00000 0.00000 0.00000"/>
		<axis xyz="1.00000 0.00000 0.00000"/>
	</joint>
	<joint name="spine_2_rzdammy" type="fixed">
		<parent link="spine_2_rz"/>
		<child link="spine_3_limb"/>
		<dynamics damping="1.0" friction="0.0001"/>
		<origin rpy="0.00000 -0.00000 0.00000" xyz="0.00449 0.13796 0.02682"/>
		<axis xyz="0.00000 0.00000 0.00000"/>
	</joint>
	<joint name="spine_3_rx" type="revolute">
		<parent link="spine_3_limb"/>
		<child link="spine_3_rx"/>
		<limit effort="1000.00000" lower="-2.50000" upper="2.50000" velocity="0.50000"/>
		<dynamics damping="1.0" friction="0.0001"/>
		<origin rpy="0.00000 -0.00000 0.00000" xyz="0.00000 0.00000 0.00000"/>
		<axis xyz="0.00000 1.00000 0.00000"/>
	</joint>
	<joint name="spine_3_ry" type="revolute">
		<parent link="spine_3_rx"/>
		<child link="spine_3_ry"/>
		<limit effort="1000.00000" lower="-2.50000" upper="2.50000" velocity="0.50000"/>
		<dynamics damping="1.0" friction="0.0001"/>
		<origin rpy="0.00000 -0.00000 0.00000" xyz="0.00000 0.00000 0.00000"/>
		<axis xyz="0.00000 0.00000 1.00000"/>
	</joint>
	<joint name="spine_3_rz" type="revolute">
		<parent link="spine_3_ry"/>
		<child link="spine_3_rz"/>
		<limit effort="1000.00000" lower="-2.50000" upper="2.50000" velocity="0.50000"/>
		<dynamics damping="1.0" friction="0.0001"/>
		<origin rpy="0.00000 -0.00000 0.00000" xyz="0.00000 0.00000 0.00000"/>
		<axis xyz="1.00000 0.00000 0.00000"/>
	</joint>
	<joint name="spine_3_rzdammy" type="fixed">
		<parent link="spine_3_rz"/>
		<child link="spine_4_limb"/>
		<dynamics damping="1.0" friction="0.0001"/>
		<origin rpy="0.00000 -0.00000 0.00000" xyz="-0.00226 0.05603 0.00286"/>
		<axis xyz="0.00000 0.00000 0.00000"/>
	</joint>
	<joint name="spine_4_rx" type="revolute">
		<parent link="spine_4_limb"/>
		<child link="spine_4_rx"/>
		<limit effort="1000.00000" lower="-2.50000" upper="2.50000" velocity="0.50000"/>
		<dynamics damping="1.0" friction="0.0001"/>
		<origin rpy="0.00000 -0.00000 0.00000" xyz="0.00000 0.00000 0.00000"/>
		<axis xyz="0.00000 1.00000 0.00000"/>
	</joint>
	<joint name="spine_4_ry" type="revolute">
		<parent link="spine_4_rx"/>
		<child link="spine_4_ry"/>
		<limit effort="1000.00000" lower="-2.50000" upper="2.50000" velocity="0.50000"/>
		<dynamics damping="1.0" friction="0.0001"/>
		<origin rpy="0.00000 -0.00000 0.00000" xyz="0.00000 0.00000 0.00000"/>
		<axis xyz="0.00000 0.00000 1.00000"/>
	</joint>
	<joint name="spine_4_rz" type="revolute">
		<parent link="spine_4_ry"/>
		<child link="spine_4_rz"/>
		<limit effort="1000.00000" lower="-2.50000" upper="2.50000" velocity="0.50000"/>
		<dynamics damping="1.0" friction="0.0001"/>
		<origin rpy="0.00000 -0.00000 0.00000" xyz="0.00000 0.00000 0.00000"/>
		<axis xyz="1.00000 0.00000 0.00000"/>
	</joint>
	<joint name="spine_4_rzdammy" type="fixed">
		<parent link="spine_4_rz"/>
		<child link="neck_limb"/>
		<dynamics damping="1.0" friction="0.0001"/>
		<origin rpy="0.00000 -0.00000 0.00000" xyz="-0.08295 0.11247 -0.02371"/>
		<axis xyz="0.00000 0.00000 0.00000"/>
	</joint>
	<joint name="neck_rx" type="revolute">
		<parent link="neck_limb"/>
		<child link="neck_rx"/>
		<limit effort="1000.00000" lower="-0.60000" upper="0.60000" velocity="0.50000"/>
		<dynamics damping="1.0" friction="0.0001"/>
		<origin rpy="0.00000 -0.00000 0.00000" xyz="0.00000 0.00000 0.00000"/>
		<axis xyz="0.00000 1.00000 0.00000"/>
	</joint>
	<joint name="neck_ry" type="revolute">
		<parent link="neck_rx"/>
		<child link="neck_ry"/>
		<limit effort="1000.00000" lower="-0.60000" upper="0.60000" velocity="0.50000"/>
		<dynamics damping="1.0" friction="0.0001"/>
		<origin rpy="0.00000 -0.00000 0.00000" xyz="0.00000 0.00000 0.00000"/>
		<axis xyz="0.00000 0.00000 1.00000"/>
	</joint>
	<joint name="neck_rz" type="revolute">
		<parent link="neck_ry"/>
		<child link="neck_rz"/>
		<limit effort="1000.00000" lower="-0.30000" upper="0.30000" velocity="0.50000"/>
		<dynamics damping="1.0" friction="0.0001"/>
		<origin rpy="0.00000 -0.00000 0.00000" xyz="0.00000 0.00000 0.00000"/>
		<axis xyz="1.00000 0.00000 0.00000"/>
	</joint>
	<joint name="neck_rzdammy" type="fixed">
		<parent link="neck_rz"/>
		<child link="head_limb"/>
		<dynamics damping="1.0" friction="0.0001"/>
		<origin rpy="0.00000 -0.00000 0.00000" xyz="0.01011 0.08894 0.05041"/>
		<axis xyz="0.00000 0.00000 0.00000"/>
	</joint>
	<joint name="head_rx" type="revolute">
		<parent link="head_limb"/>
		<child link="head_rx"/>
		<limit effort="1000.00000" lower="-2.50000" upper="2.50000" velocity="0.50000"/>
		<dynamics damping="1.0" friction="0.0001"/>
		<origin rpy="0.00000 -0.00000 0.00000" xyz="0.00000 0.00000 0.00000"/>
		<axis xyz="0.00000 1.00000 0.00000"/>
	</joint>
	<joint name="head_ry" type="revolute">
		<parent link="head_rx"/>
		<child link="head_ry"/>
		<limit effort="1000.00000" lower="-2.50000" upper="2.50000" velocity="0.50000"/>
		<dynamics damping="1.0" friction="0.0001"/>
		<origin rpy="0.00000 -0.00000 0.00000" xyz="0.00000 0.00000 0.00000"/>
		<axis xyz="0.00000 0.00000 1.00000"/>
	</joint>
	<joint name="head_rz" type="revolute">
		<parent link="head_ry"/>
		<child link="head_rz"/>
		<limit effort="1000.00000" lower="-2.50000" upper="2.50000" velocity="0.50000"/>
		<dynamics damping="1.0" friction="0.0001"/>
		<origin rpy="0.00000 -0.00000 0.00000" xyz="0.00000 0.00000 0.00000"/>
		<axis xyz="1.00000 0.00000 0.00000"/>
	</joint>
	<joint name="left_clavicle_rx" type="revolute">
		<parent link="spine_4_rz"/>
		<child link="left_clavicle_rx"/>
		<limit effort="1000.00000" lower="-2.50000" upper="2.50000" velocity="0.50000"/>
		<dynamics damping="1.0" friction="0.0001"/>
		<origin rpy="0.00000 -0.00000 0.00000" xyz="0.07170 0.11400 -0.01890"/>
		<axis xyz="0.00000 1.00000 0.00000"/>
	</joint>
	<joint name="left_clavicle_ry" type="revolute">
		<parent link="left_clavicle_rx"/>
		<child link="left_clavicle_ry"/>
		<limit effort="1000.00000" lower="-0.60000" upper="0.40000" velocity="0.50000"/>
		<dynamics damping="1.0" friction="0.0001"/>
		<origin rpy="0.00000 -0.00000 0.00000" xyz="0.00000 0.00000 0.00000"/>
		<axis xyz="0.00000 0.00000 1.00000"/>
	</joint>
	<joint name="left_clavicle_rz" type="revolute">
		<parent link="left_clavicle_ry"/>
		<child link="left_clavicle_rz"/>
		<limit effort="1000.00000" lower="-0.40000" upper="0.40000" velocity="0.50000"/>
		<dynamics damping="1.0" friction="0.0001"/>
		<origin rpy="0.00000 -0.00000 0.00000" xyz="0.00000 0.00000 0.00000"/>
		<axis xyz="1.00000 0.00000 0.00000"/>
	</joint>
	<joint name="left_clavicle_rzdammy" type="fixed">
		<parent link="left_clavicle_rz"/>
		<child link="left_shoulder_limb"/>
		<dynamics damping="1.0" friction="0.0001"/>
		<origin rpy="0.00000 -0.00000 0.00000" xyz="0.12292 0.04521 -0.01905"/>
		<axis xyz="0.00000 0.00000 0.00000"/>
	</joint>
	<joint name="left_shoulder_rx" type="revolute">
		<parent link="left_shoulder_limb"/>
		<child link="left_shoulder_rx"/>
		<limit effort="1000.00000" lower="-2.50000" upper="2.50000" velocity="0.50000"/>
		<dynamics damping="1.0" friction="0.0001"/>
		<origin rpy="0.00000 -0.00000 0.00000" xyz="0.00000 0.00000 0.00000"/>
		<axis xyz="0.00000 1.00000 0.00000"/>
	</joint>
	<joint name="left_shoulder_ry" type="revolute">
		<parent link="left_shoulder_rx"/>
		<child link="left_shoulder_ry"/>
		<limit effort="1000.00000" lower="-2.00000" upper="0.60000" velocity="0.50000"/>
		<dynamics damping="1.0" friction="0.0001"/>
		<origin rpy="0.00000 -0.00000 0.00000" xyz="0.00000 0.00000 0.00000"/>
		<axis xyz="0.00000 0.00000 1.00000"/>
	</joint>
	<joint name="left_shoulder_rz" type="revolute">
		<parent link="left_shoulder_ry"/>
		<child link="left_shoulder_rz"/>
		<limit effort="1000.00000" lower="-1.00000" upper="1.00000" velocity="0.50000"/>
		<dynamics damping="1.0" friction="0.0001"/>
		<origin rpy="0.00000 -0.00000 0.00000" xyz="0.00000 0.00000 0.00000"/>
		<axis xyz="1.00000 0.00000 0.00000"/>
	</joint>
	<joint name="left_shoulder_rzdammy" type="fixed">
		<parent link="left_shoulder_rz"/>
		<child link="left_elbow_limb"/>
		<dynamics damping="1.0" friction="0.0001"/>
		<origin rpy="0.00000 -0.00000 0.00000" xyz="0.25533 -0.01565 -0.02295"/>
		<axis xyz="0.00000 0.00000 0.00000"/>
	</joint>
	<joint name="left_elbow_rx" type="revolute">
		<parent link="left_elbow_limb"/>
		<child link="left_elbow_rx"/>
		<limit effort="1000.00000" lower="-1.40000" upper="0.90000" velocity="0.50000"/>
		<dynamics damping="1.0" friction="0.0001"/>
		<origin rpy="0.00000 -0.00000 0.00000" xyz="0.00000 0.00000 0.00000"/>
		<axis xyz="0.00000 1.00000 0.00000"/>
	</joint>
	<joint name="left_elbow_ry" type="revolute">
		<parent link="left_elbow_rx"/>
		<child link="left_elbow_ry"/>
		<limit effort="1000.00000" lower="-2.70000" upper="0.00000" velocity="0.50000"/>
		<dynamics damping="1.0" friction="0.0001"/>
		<origin rpy="0.00000 -0.00000 0.00000" xyz="0.00000 0.00000 0.00000"/>
		<axis xyz="0.00000 0.00000 1.00000"/>
	</joint>
	<joint name="left_elbow_rz" type="revolute">
		<parent link="left_elbow_ry"/>
		<child link="left_elbow_rz"/>
		<limit effort="1000.00000" lower="-2.50000" upper="2.50000" velocity="0.50000"/>
		<dynamics damping="1.0" friction="0.0001"/>
		<origin rpy="0.00000 -0.00000 0.00000" xyz="0.00000 0.00000 0.00000"/>
		<axis xyz="1.00000 0.00000 0.00000"/>
	</joint>
	<joint name="left_elbow_rzdammy" type="fixed">
		<parent link="left_elbow_rz"/>
		<child link="left_lowarm_limb"/>
		<dynamics damping="1.0" friction="0.0001"/>
		<origin rpy="0.00000 -0.00000 0.00000" xyz="0.26571 0.01270 -0.00737"/>
		<axis xyz="0.00000 0.00000 0.00000"/>
	</joint>
	<joint name="left_lowarm_rx" type="revolute">
		<parent link="left_lowarm_limb"/>
		<child link="left_lowarm_rx"/>
		<limit effort="1000.00000" lower="-2.50000" upper="2.50000" velocity="0.50000"/>
		<dynamics damping="1.0" friction="0.0001"/>
		<origin rpy="0.00000 -0.00000 0.00000" xyz="0.00000 0.00000 0.00000"/>
		<axis xyz="0.00000 1.00000 0.00000"/>
	</joint>
	<joint name="left_lowarm_ry" type="revolute">
		<parent link="left_lowarm_rx"/>
		<child link="left_lowarm_ry"/>
		<limit effort="1000.00000" lower="-2.50000" upper="2.50000" velocity="0.50000"/>
		<dynamics damping="1.0" friction="0.0001"/>
		<origin rpy="0.00000 -0.00000 0.00000" xyz="0.00000 0.00000 0.00000"/>
		<axis xyz="0.00000 0.00000 1.00000"/>
	</joint>
	<joint name="left_lowarm_rz" type="revolute">
		<parent link="left_lowarm_ry"/>
		<child link="left_lowarm_rz"/>
		<limit effort="1000.00000" lower="-2.50000" upper="2.50000" velocity="0.50000"/>
		<dynamics damping="1.0" friction="0.0001"/>
		<origin rpy="0.00000 -0.00000 0.00000" xyz="0.00000 0.00000 0.00000"/>
		<axis xyz="1.00000 0.00000 0.00000"/>
	</joint>
	<joint name="left_lowarm_rzdammy" type="fixed">
		<parent link="left_lowarm_rz"/>
		<child link="left_hand_limb"/>
		<dynamics damping="1.0" friction="0.0001"/>
		<origin rpy="0.00000 -0.00000 0.00000" xyz="0.08669 -0.01064 -0.01559"/>
		<axis xyz="0.00000 0.00000 0.00000"/>
	</joint>
	<joint name="left_hand_rx" type="revolute">
		<parent link="left_hand_limb"/>
		<child link="left_hand_rx"/>
		<limit effort="1000.00000" lower="-2.50000" upper="2.50000" velocity="0.50000"/>
		<dynamics damping="1.0" friction="0.0001"/>
		<origin rpy="0.00000 -0.00000 0.00000" xyz="0.00000 0.00000 0.00000"/>
		<axis xyz="0.00000 1.00000 0.00000"/>
	</joint>
	<joint name="left_hand_ry" type="revolute">
		<parent link="left_hand_rx"/>
		<child link="left_hand_ry"/>
		<limit effort="1000.00000" lower="-2.50000" upper="2.50000" velocity="0.50000"/>
		<dynamics damping="1.0" friction="0.0001"/>
		<origin rpy="0.00000 -0.00000 0.00000" xyz="0.00000 0.00000 0.00000"/>
		<axis xyz="0.00000 0.00000 1.00000"/>
	</joint>
	<joint name="left_hand_rz" type="revolute">
		<parent link="left_hand_ry"/>
		<child link="left_hand_rz"/>
		<limit effort="1000.00000" lower="-2.50000" upper="2.50000" velocity="0.50000"/>
		<dynamics damping="1.0" friction="0.0001"/>
		<origin rpy="0.00000 -0.00000 0.00000" xyz="0.00000 0.00000 0.00000"/>
		<axis xyz="1.00000 0.00000 0.00000"/>
	</joint>
	<joint name="right_clavicle_rx" type="revolute">
		<parent link="spine_4_rz"/>
		<child link="right_clavicle_rx"/>
		<limit effort="1000.00000" lower="-2.50000" upper="2.50000" velocity="0.50000"/>
		<dynamics damping="1.0" friction="0.0001"/>
		<origin rpy="0.00000 -0.00000 0.00000" xyz="-0.08295 0.11247 -0.02371"/>
		<axis xyz="0.00000 1.00000 0.00000"/>
	</joint>
	<joint name="right_clavicle_ry" type="revolute">
		<parent link="right_clavicle_rx"/>
		<child link="right_clavicle_ry"/>
		<limit effort="1000.00000" lower="-0.40000" upper="0.60000" velocity="0.50000"/>
		<dynamics damping="1.0" friction="0.0001"/>
		<origin rpy="0.00000 -0.00000 0.00000" xyz="0.00000 0.00000 0.00000"/>
		<axis xyz="0.00000 0.00000 1.00000"/>
	</joint>
	<joint name="right_clavicle_rz" type="revolute">
		<parent link="right_clavicle_ry"/>
		<child link="right_clavicle_rz"/>
		<limit effort="1000.00000" lower="-0.40000" upper="0.40000" velocity="0.50000"/>
		<dynamics damping="1.0" friction="0.0001"/>
		<origin rpy="0.00000 -0.00000 0.00000" xyz="0.00000 0.00000 0.00000"/>
		<axis xyz="1.00000 0.00000 0.00000"/>
	</joint>
	<joint name="right_clavicle_rzdammy" type="fixed">
		<parent link="right_clavicle_rz"/>
		<child link="right_shoulder_limb"/>
		<dynamics damping="1.0" friction="0.0001"/>
		<origin rpy="0.00000 -0.00000 0.00000" xyz="-0.11323 0.04685 -0.00847"/>
		<axis xyz="0.00000 0.00000 0.00000"/>
	</joint>
	<joint name="right_shoulder_rx" type="revolute">
		<parent link="right_shoulder_limb"/>
		<child link="right_shoulder_rx"/>
		<limit effort="1000.00000" lower="-2.50000" upper="2.50000" velocity="0.50000"/>
		<dynamics damping="1.0" friction="0.0001"/>
		<origin rpy="0.00000 -0.00000 0.00000" xyz="0.00000 0.00000 0.00000"/>
		<axis xyz="0.00000 1.00000 0.00000"/>
	</joint>
	<joint name="right_shoulder_ry" type="revolute">
		<parent link="right_shoulder_rx"/>
		<child link="right_shoulder_ry"/>
		<limit effort="1000.00000" lower="-0.60000" upper="2.00000" velocity="0.50000"/>
		<dynamics damping="1.0" friction="0.0001"/>
		<origin rpy="0.00000 -0.00000 0.00000" xyz="0.00000 0.00000 0.00000"/>
		<axis xyz="0.00000 0.00000 1.00000"/>
	</joint>
	<joint name="right_shoulder_rz" type="revolute">
		<parent link="right_shoulder_ry"/>
		<child link="right_shoulder_rz"/>
		<limit effort="1000.00000" lower="-1.00000" upper="1.00000" velocity="0.50000"/>
		<dynamics damping="1.0" friction="0.0001"/>
		<origin rpy="0.00000 -0.00000 0.00000" xyz="0.00000 0.00000 0.00000"/>
		<axis xyz="1.00000 0.00000 0.00000"/>
	</joint>
	<joint name="right_shoulder_rzdammy" type="fixed">
		<parent link="right_shoulder_rz"/>
		<child link="right_elbow_limb"/>
		<dynamics damping="1.0" friction="0.0001"/>
		<origin rpy="0.00000 -0.00000 0.00000" xyz="-0.26013 -0.01437 -0.03127"/>
		<axis xyz="0.00000 0.00000 0.00000"/>
	</joint>
	<joint name="right_elbow_rx" type="revolute">
		<parent link="right_elbow_limb"/>
		<child link="right_elbow_rx"/>
		<limit effort="1000.00000" lower="-1.40000" upper="0.90000" velocity="0.50000"/>
		<dynamics damping="1.0" friction="0.0001"/>
		<origin rpy="0.00000 -0.00000 0.00000" xyz="0.00000 0.00000 0.00000"/>
		<axis xyz="0.00000 1.00000 0.00000"/>
	</joint>
	<joint name="right_elbow_ry" type="revolute">
		<parent link="right_elbow_rx"/>
		<child link="right_elbow_ry"/>
		<limit effort="1000.00000" lower="0.00000" upper="2.70000" velocity="0.50000"/>
		<dynamics damping="1.0" friction="0.0001"/>
		<origin rpy="0.00000 -0.00000 0.00000" xyz="0.00000 0.00000 0.00000"/>
		<axis xyz="0.00000 0.00000 1.00000"/>
	</joint>
	<joint name="right_elbow_rz" type="revolute">
		<parent link="right_elbow_ry"/>
		<child link="right_elbow_rz"/>
		<limit effort="1000.00000" lower="-2.50000" upper="2.50000" velocity="0.50000"/>
		<dynamics damping="1.0" friction="0.0001"/>
		<origin rpy="0.00000 -0.00000 0.00000" xyz="0.00000 0.00000 0.00000"/>
		<axis xyz="1.00000 0.00000 0.00000"/>
	</joint>
	<joint name="right_elbow_rzdammy" type="fixed">
		<parent link="right_elbow_rz"/>
		<child link="right_lowarm_limb"/>
		<dynamics damping="1.0" friction="0.0001"/>
		<origin rpy="0.00000 -0.00000 0.00000" xyz="-0.26911 0.00679 -0.00603"/>
		<axis xyz="0.00000 0.00000 0.00000"/>
	</joint>
	<joint name="right_lowarm_rx" type="revolute">
		<parent link="right_lowarm_limb"/>
		<child link="right_lowarm_rx"/>
		<limit effort="1000.00000" lower="-2.50000" upper="2.50000" velocity="0.50000"/>
		<dynamics damping="1.0" friction="0.0001"/>
		<origin rpy="0.00000 -0.00000 0.00000" xyz="0.00000 0.00000 0.00000"/>
		<axis xyz="0.00000 1.00000 0.00000"/>
	</joint>
	<joint name="right_lowarm_ry" type="revolute">
		<parent link="right_lowarm_rx"/>
		<child link="right_lowarm_ry"/>
		<limit effort="1000.00000" lower="-2.50000" upper="2.50000" velocity="0.50000"/>
		<dynamics damping="1.0" friction="0.0001"/>
		<origin rpy="0.00000 -0.00000 0.00000" xyz="0.00000 0.00000 0.00000"/>
		<axis xyz="0.00000 0.00000 1.00000"/>
	</joint>
	<joint name="right_lowarm_rz" type="revolute">
		<parent link="right_lowarm_ry"/>
		<child link="right_lowarm_rz"/>
		<limit effort="1000.00000" lower="-2.50000" upper="2.50000" velocity="0.50000"/>
		<dynamics damping="1.0" friction="0.0001"/>
		<origin rpy="0.00000 -0.00000 0.00000" xyz="0.00000 0.00000 0.00000"/>
		<axis xyz="1.00000 0.00000 0.00000"/>
	</joint>
	<joint name="right_lowarm_rzdammy" type="fixed">
		<parent link="right_lowarm_rz"/>
		<child link="right_hand_limb"/>
		<dynamics damping="1.0" friction="0.0001"/>
		<origin rpy="0.00000 -0.00000 0.00000" xyz="-0.08875 -0.00865 -0.01011"/>
		<axis xyz="0.00000 0.00000 0.00000"/>
	</joint>
	<joint name="right_hand_rx" type="revolute">
		<parent link="right_hand_limb"/>
		<child link="right_hand_rx"/>
		<limit effort="1000.00000" lower="-2.50000" upper="2.50000" velocity="0.50000"/>
		<dynamics damping="1.0" friction="0.0001"/>
		<origin rpy="0.00000 -0.00000 0.00000" xyz="0.00000 0.00000 0.00000"/>
		<axis xyz="0.00000 1.00000 0.00000"/>
	</joint>
	<joint name="right_hand_ry" type="revolute">
		<parent link="right_hand_rx"/>
		<child link="right_hand_ry"/>
		<limit effort="1000.00000" lower="-2.50000" upper="2.50000" velocity="0.50000"/>
		<dynamics damping="1.0" friction="0.0001"/>
		<origin rpy="0.00000 -0.00000 0.00000" xyz="0.00000 0.00000 0.00000"/>
		<axis xyz="0.00000 0.00000 1.00000"/>
	</joint>
	<joint name="right_hand_rz" type="revolute">
		<parent link="right_hand_ry"/>
		<child link="right_hand_rz"/>
		<limit effort="1000.00000" lower="-2.50000" upper="2.50000" velocity="0.50000"/>
		<dynamics damping="1.0" friction="0.0001"/>
		<origin rpy="0.00000 -0.00000 0.00000" xyz="0.00000 0.00000 0.00000"/>
		<axis xyz="1.00000 0.00000 0.00000"/>
	</joint>
</robot>
